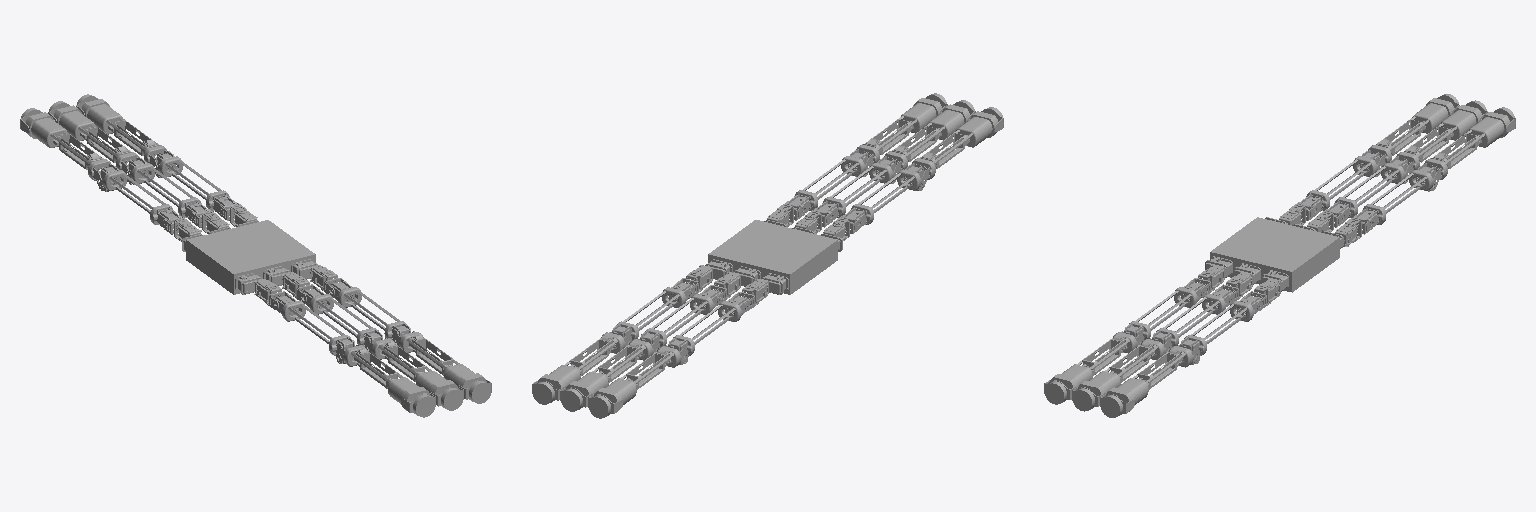
--- What the picture shows (computed from the rendered views, not written in the file) ---
3 views of the same robot in one strip: view 1: azimuth 30°, elevation 25°; view 2: azimuth 150°, elevation 25°; view 3: azimuth 330°, elevation 25° (orthographic).
Model robominer with 74 links and 73 joints (24 revolute, 49 fixed), rooted at base_link, posed all joints at 0.
Visible links, largest first — view 1: cuerpo, Component10_r_3, Component10_r_2, Component10_r_1, Component10_l_3, Component10_l_1, Component10_l_2, Component7_l_3, Component7_l_1, Component7_l_2, Component7_r_3, Component7_r_1 (+8 smaller); view 2: cuerpo, Component10_l_3, Component10_l_1, Component10_l_2, Component10_r_3, Component10_r_1, Component10_r_2, Component7_r_3, Component7_r_1, Component7_r_2, Component7_l_3, Component7_l_2 (+9 smaller); view 3: cuerpo, Component10_r_1, Component10_r_3, Component10_r_2, Component10_l_1, Component10_l_3, Component10_l_2, Component7_l_1, Component7_l_3, Component7_l_2, Component7_r_1, Component7_r_2 (+10 smaller).
Link boxes in pixels (x1=…): cuerpo: x1=186, y1=220, x2=315, y2=294; Component10_r_3: x1=343, y1=345, x2=403, y2=388; Component10_r_2: x1=371, y1=338, x2=431, y2=381; Component10_r_1: x1=399, y1=332, x2=459, y2=375; Component10_l_3: x1=50, y1=131, x2=111, y2=180; Component10_l_1: x1=106, y1=117, x2=166, y2=162; Component10_l_2: x1=78, y1=124, x2=139, y2=169; Component7_l_3: x1=102, y1=170, x2=174, y2=224; Component7_l_1: x1=158, y1=156, x2=229, y2=211; Component7_l_2: x1=130, y1=163, x2=201, y2=217; Component7_r_3: x1=281, y1=300, x2=350, y2=355; Component7_r_1: x1=337, y1=287, x2=406, y2=339; cuerpo: x1=708, y1=220, x2=837, y2=294; Component10_l_3: x1=620, y1=346, x2=681, y2=389; Component10_l_1: x1=565, y1=332, x2=625, y2=375; Component10_l_2: x1=592, y1=339, x2=653, y2=382; Component10_r_3: x1=912, y1=130, x2=972, y2=179; Component10_r_1: x1=856, y1=116, x2=916, y2=162; Component10_r_2: x1=884, y1=123, x2=944, y2=169; Component7_r_3: x1=850, y1=169, x2=921, y2=224; Component7_r_1: x1=794, y1=156, x2=865, y2=210; Component7_r_2: x1=822, y1=163, x2=893, y2=217; Component7_l_3: x1=673, y1=301, x2=742, y2=356; Component7_l_2: x1=645, y1=294, x2=714, y2=346; cuerpo: x1=1210, y1=217, x2=1339, y2=292; Component10_r_1: x1=1133, y1=346, x2=1193, y2=389; Component10_r_3: x1=1076, y1=332, x2=1137, y2=375; Component10_r_2: x1=1105, y1=339, x2=1165, y2=382; Component10_l_1: x1=1424, y1=130, x2=1484, y2=179; Component10_l_3: x1=1368, y1=116, x2=1428, y2=162; Component10_l_2: x1=1396, y1=123, x2=1456, y2=169; Component7_l_1: x1=1362, y1=170, x2=1433, y2=224; Component7_l_3: x1=1306, y1=156, x2=1377, y2=210; Component7_l_2: x1=1334, y1=163, x2=1405, y2=217; Component7_r_1: x1=1184, y1=301, x2=1254, y2=355; Component7_r_2: x1=1156, y1=294, x2=1226, y2=346.
Bounding box of the posed robot: 0.2668 × 2.08 × 0.0701 m (x, y, z).
73 mesh visuals loaded from 13 distinct referenced files (13 binary STL).

The robot description file, URDF, robot "robominer":
<?xml version="1.0" ?>
<!-- =================================================================================== -->
<!-- |    This document was autogenerated by xacro from robominer.xacro                | -->
<!-- |    EDITING THIS FILE BY HAND IS NOT RECOMMENDED                                 | -->
<!-- =================================================================================== -->
<robot name="robominer">
  <material name="silver">
    <color rgba="0.700 0.700 0.700 1.000"/>
  </material>
  <link name="cuerpo">
    <inertial>
      <origin rpy="0 0 0" xyz="1.2607010642475455e-06 -1.9705023201073385e-17 0.030000000000039998"/>
      <!--mass value="28.985638173838137"/-->
      <mass value="2"/>
      <inertia ixx="0.155393" ixy="-0.0" ixz="-0.0" iyy="0.159826" iyz="-0.0" izz="0.297615"/>
    </inertial>
    <visual>
      <origin rpy="0 0 0" xyz="0 0 0"/>
      <geometry>
        <mesh filename="package://robominer_description/meshes/cuerpo.stl" scale="0.001 0.001 0.001"/>
      </geometry>
      <material name="silver"/>
    </visual>
    <collision>
      <origin rpy="0 0 0" xyz="0 0 0"/>
      <geometry>
        <mesh filename="package://robominer_description/meshes/cuerpo.stl" scale="0.001 0.001 0.001"/>
      </geometry>
    </collision>
  </link>
  <gazebo>
    <plugin filename="libgazebo_ros_control.so" name="control">
      <robotNamespace>/robominer</robotNamespace>
    </plugin>
  </gazebo>
  <gazebo reference="cuerpo">
    <material>Gazebo/Silver</material>
    <implicitSpringDamper>true</implicitSpringDamper>
    <mu1>0.8</mu1>
    <mu2>0.8</mu2>
    <kp>1000000.0</kp>
    <kd>1.0</kd>
    <maxVel>0</maxVel>
    <minDepth>0.001</minDepth>
    <selfCollide>true</selfCollide>
    <gravity>true</gravity>
  </gazebo>
  <!--Pata r1-->
  <gazebo reference="Component1_r_1">
    <material>Gazebo/Silver</material>
    <implicitSpringDamper>true</implicitSpringDamper>
    <mu1>0.8</mu1>
    <mu2>0.8</mu2>
    <kp>1000000.0</kp>
    <kd>1.0</kd>
    <maxVel>0</maxVel>
    <minDepth>0.001</minDepth>
    <selfCollide>true</selfCollide>
  </gazebo>
  <gazebo reference="Component2_r_1">
    <material>Gazebo/Silver</material>
    <implicitSpringDamper>true</implicitSpringDamper>
    <mu1>0.8</mu1>
    <mu2>0.8</mu2>
    <kp>1000000.0</kp>
    <kd>1.0</kd>
    <maxVel>0</maxVel>
    <minDepth>0.001</minDepth>
    <selfCollide>true</selfCollide>
  </gazebo>
  <gazebo reference="Component3_r_1">
    <material>Gazebo/Silver</material>
    <implicitSpringDamper>true</implicitSpringDamper>
    <mu1>0.8</mu1>
    <mu2>0.8</mu2>
    <kp>1000000.0</kp>
    <kd>1.0</kd>
    <maxVel>0</maxVel>
    <minDepth>0.001</minDepth>
    <selfCollide>true</selfCollide>
  </gazebo>
  <gazebo reference="Component4_r_1">
    <material>Gazebo/Silver</material>
    <implicitSpringDamper>true</implicitSpringDamper>
    <mu1>0.8</mu1>
    <mu2>0.8</mu2>
    <kp>1000000.0</kp>
    <kd>1.0</kd>
    <maxVel>0</maxVel>
    <minDepth>0.001</minDepth>
    <selfCollide>true</selfCollide>
  </gazebo>
  <gazebo reference="Component5_r_1">
    <material>Gazebo/Silver</material>
    <implicitSpringDamper>true</implicitSpringDamper>
    <mu1>0.8</mu1>
    <mu2>0.8</mu2>
    <kp>1000000.0</kp>
    <kd>1.0</kd>
    <maxVel>0</maxVel>
    <minDepth>0.001</minDepth>
    <selfCollide>true</selfCollide>
  </gazebo>
  <gazebo reference="Component6_r_1">
    <material>Gazebo/Silver</material>
    <implicitSpringDamper>true</implicitSpringDamper>
    <mu1>0.8</mu1>
    <mu2>0.8</mu2>
    <kp>1000000.0</kp>
    <kd>1.0</kd>
    <maxVel>0</maxVel>
    <minDepth>0.001</minDepth>
    <selfCollide>true</selfCollide>
  </gazebo>
  <gazebo reference="Component7_r_1">
    <material>Gazebo/Silver</material>
    <implicitSpringDamper>true</implicitSpringDamper>
    <mu1>0.8</mu1>
    <mu2>0.8</mu2>
    <kp>1000000.0</kp>
    <kd>1.0</kd>
    <maxVel>0</maxVel>
    <minDepth>0.001</minDepth>
    <selfCollide>true</selfCollide>
  </gazebo>
  <gazebo reference="Component8_r_1">
    <material>Gazebo/Silver</material>
    <implicitSpringDamper>true</implicitSpringDamper>
    <mu1>0.8</mu1>
    <mu2>0.8</mu2>
    <kp>1000000.0</kp>
    <kd>1.0</kd>
    <maxVel>0</maxVel>
    <minDepth>0.001</minDepth>
    <selfCollide>true</selfCollide>
  </gazebo>
  <gazebo reference="Component9_r_1">
    <material>Gazebo/Silver</material>
    <implicitSpringDamper>true</implicitSpringDamper>
    <mu1>0.8</mu1>
    <mu2>0.8</mu2>
    <kp>1000000.0</kp>
    <kd>1.0</kd>
    <maxVel>0</maxVel>
    <minDepth>0.001</minDepth>
    <selfCollide>true</selfCollide>
  </gazebo>
  <gazebo reference="Component10_r_1">
    <material>Gazebo/Silver</material>
    <implicitSpringDamper>true</implicitSpringDamper>
    <mu1>0.8</mu1>
    <mu2>0.8</mu2>
    <kp>1000000.0</kp>
    <kd>1.0</kd>
    <maxVel>0</maxVel>
    <minDepth>0.001</minDepth>
    <selfCollide>true</selfCollide>
  </gazebo>
  <gazebo reference="Component11_r_1">
    <material>Gazebo/Silver</material>
    <implicitSpringDamper>true</implicitSpringDamper>
    <mu1>0.8</mu1>
    <mu2>0.8</mu2>
    <kp>1000000.0</kp>
    <kd>1.0</kd>
    <maxVel>0</maxVel>
    <minDepth>0.001</minDepth>
    <selfCollide>true</selfCollide>
  </gazebo>
  <gazebo reference="Component12_r_1">
    <material>Gazebo/Silver</material>
    <implicitSpringDamper>true</implicitSpringDamper>
    <mu1>0.8</mu1>
    <mu2>0.8</mu2>
    <kp>1000000.0</kp>
    <kd>1.0</kd>
    <maxVel>0</maxVel>
    <minDepth>0.001</minDepth>
    <selfCollide>true</selfCollide>
  </gazebo>
  <!--Pata r2-->
  <gazebo reference="Component1_r_2">
    <material>Gazebo/Silver</material>
    <implicitSpringDamper>true</implicitSpringDamper>
    <mu1>0.8</mu1>
    <mu2>0.8</mu2>
    <kp>1000000.0</kp>
    <kd>1.0</kd>
    <maxVel>0</maxVel>
    <minDepth>0.001</minDepth>
    <selfCollide>true</selfCollide>
  </gazebo>
  <gazebo reference="Component2_r_2">
    <material>Gazebo/Silver</material>
    <implicitSpringDamper>true</implicitSpringDamper>
    <mu1>0.8</mu1>
    <mu2>0.8</mu2>
    <kp>1000000.0</kp>
    <kd>1.0</kd>
    <maxVel>0</maxVel>
    <minDepth>0.001</minDepth>
    <selfCollide>true</selfCollide>
  </gazebo>
  <gazebo reference="Component3_r_2">
    <material>Gazebo/Silver</material>
    <implicitSpringDamper>true</implicitSpringDamper>
    <mu1>0.8</mu1>
    <mu2>0.8</mu2>
    <kp>1000000.0</kp>
    <kd>1.0</kd>
    <maxVel>0</maxVel>
    <minDepth>0.001</minDepth>
    <selfCollide>true</selfCollide>
  </gazebo>
  <gazebo reference="Component4_r_2">
    <material>Gazebo/Silver</material>
    <implicitSpringDamper>true</implicitSpringDamper>
    <mu1>0.8</mu1>
    <mu2>0.8</mu2>
    <kp>1000000.0</kp>
    <kd>1.0</kd>
    <maxVel>0</maxVel>
    <minDepth>0.001</minDepth>
    <selfCollide>true</selfCollide>
  </gazebo>
  <gazebo reference="Component5_r_2">
    <material>Gazebo/Silver</material>
    <implicitSpringDamper>true</implicitSpringDamper>
    <mu1>0.8</mu1>
    <mu2>0.8</mu2>
    <kp>1000000.0</kp>
    <kd>1.0</kd>
    <maxVel>0</maxVel>
    <minDepth>0.001</minDepth>
    <selfCollide>true</selfCollide>
  </gazebo>
  <gazebo reference="Component6_r_2">
    <material>Gazebo/Silver</material>
    <implicitSpringDamper>true</implicitSpringDamper>
    <mu1>0.8</mu1>
    <mu2>0.8</mu2>
    <kp>1000000.0</kp>
    <kd>1.0</kd>
    <maxVel>0</maxVel>
    <minDepth>0.001</minDepth>
    <selfCollide>true</selfCollide>
  </gazebo>
  <gazebo reference="Component7_r_2">
    <material>Gazebo/Silver</material>
    <implicitSpringDamper>true</implicitSpringDamper>
    <mu1>0.8</mu1>
    <mu2>0.8</mu2>
    <kp>1000000.0</kp>
    <kd>1.0</kd>
    <maxVel>0</maxVel>
    <minDepth>0.001</minDepth>
    <selfCollide>true</selfCollide>
  </gazebo>
  <gazebo reference="Component8_r_2">
    <material>Gazebo/Silver</material>
    <implicitSpringDamper>true</implicitSpringDamper>
    <mu1>0.8</mu1>
    <mu2>0.8</mu2>
    <kp>1000000.0</kp>
    <kd>1.0</kd>
    <maxVel>0</maxVel>
    <minDepth>0.001</minDepth>
    <selfCollide>true</selfCollide>
  </gazebo>
  <gazebo reference="Component9_r_2">
    <material>Gazebo/Silver</material>
    <implicitSpringDamper>true</implicitSpringDamper>
    <mu1>0.8</mu1>
    <mu2>0.8</mu2>
    <kp>1000000.0</kp>
    <kd>1.0</kd>
    <maxVel>0</maxVel>
    <minDepth>0.001</minDepth>
    <selfCollide>true</selfCollide>
  </gazebo>
  <gazebo reference="Component10_r_2">
    <material>Gazebo/Silver</material>
    <implicitSpringDamper>true</implicitSpringDamper>
    <mu1>0.8</mu1>
    <mu2>0.8</mu2>
    <kp>1000000.0</kp>
    <kd>1.0</kd>
    <maxVel>0</maxVel>
    <minDepth>0.001</minDepth>
    <selfCollide>true</selfCollide>
  </gazebo>
  <gazebo reference="Component11_r_2">
    <material>Gazebo/Silver</material>
    <implicitSpringDamper>true</implicitSpringDamper>
    <mu1>0.8</mu1>
    <mu2>0.8</mu2>
    <kp>1000000.0</kp>
    <kd>1.0</kd>
    <maxVel>0</maxVel>
    <minDepth>0.001</minDepth>
    <selfCollide>true</selfCollide>
  </gazebo>
  <gazebo reference="Component12_r_2">
    <material>Gazebo/Silver</material>
    <implicitSpringDamper>true</implicitSpringDamper>
    <mu1>0.8</mu1>
    <mu2>0.8</mu2>
    <kp>1000000.0</kp>
    <kd>1.0</kd>
    <maxVel>0</maxVel>
    <minDepth>0.001</minDepth>
    <selfCollide>true</selfCollide>
  </gazebo>
  <!--Pata r3-->
  <gazebo reference="Component1_r_3">
    <material>Gazebo/Silver</material>
    <implicitSpringDamper>true</implicitSpringDamper>
    <mu1>0.8</mu1>
    <mu2>0.8</mu2>
    <kp>1000000.0</kp>
    <kd>1.0</kd>
    <maxVel>0</maxVel>
    <minDepth>0.001</minDepth>
    <selfCollide>true</selfCollide>
  </gazebo>
  <gazebo reference="Component2_r_3">
    <material>Gazebo/Silver</material>
    <implicitSpringDamper>true</implicitSpringDamper>
    <mu1>0.8</mu1>
    <mu2>0.8</mu2>
    <kp>1000000.0</kp>
    <kd>1.0</kd>
    <maxVel>0</maxVel>
    <minDepth>0.001</minDepth>
    <selfCollide>true</selfCollide>
  </gazebo>
  <gazebo reference="Component3_r_3">
    <material>Gazebo/Silver</material>
    <implicitSpringDamper>true</implicitSpringDamper>
    <mu1>0.8</mu1>
    <mu2>0.8</mu2>
    <kp>1000000.0</kp>
    <kd>1.0</kd>
    <maxVel>0</maxVel>
    <minDepth>0.001</minDepth>
    <selfCollide>true</selfCollide>
  </gazebo>
  <gazebo reference="Component4_r_3">
    <material>Gazebo/Silver</material>
    <implicitSpringDamper>true</implicitSpringDamper>
    <mu1>0.8</mu1>
    <mu2>0.8</mu2>
    <kp>1000000.0</kp>
    <kd>1.0</kd>
    <maxVel>0</maxVel>
    <minDepth>0.001</minDepth>
    <selfCollide>true</selfCollide>
  </gazebo>
  <gazebo reference="Component5_r_3">
    <material>Gazebo/Silver</material>
    <implicitSpringDamper>true</implicitSpringDamper>
    <mu1>0.8</mu1>
    <mu2>0.8</mu2>
    <kp>1000000.0</kp>
    <kd>1.0</kd>
    <maxVel>0</maxVel>
    <minDepth>0.001</minDepth>
    <selfCollide>true</selfCollide>
  </gazebo>
  <gazebo reference="Component6_r_3">
    <material>Gazebo/Silver</material>
    <implicitSpringDamper>true</implicitSpringDamper>
    <mu1>0.8</mu1>
    <mu2>0.8</mu2>
    <kp>1000000.0</kp>
    <kd>1.0</kd>
    <maxVel>0</maxVel>
    <minDepth>0.001</minDepth>
    <selfCollide>true</selfCollide>
  </gazebo>
  <gazebo reference="Component7_r_3">
    <material>Gazebo/Silver</material>
    <implicitSpringDamper>true</implicitSpringDamper>
    <mu1>0.8</mu1>
    <mu2>0.8</mu2>
    <kp>1000000.0</kp>
    <kd>1.0</kd>
    <maxVel>0</maxVel>
    <minDepth>0.001</minDepth>
    <selfCollide>true</selfCollide>
  </gazebo>
  <gazebo reference="Component8_r_3">
    <material>Gazebo/Silver</material>
    <implicitSpringDamper>true</implicitSpringDamper>
    <mu1>0.8</mu1>
    <mu2>0.8</mu2>
    <kp>1000000.0</kp>
    <kd>1.0</kd>
    <maxVel>0</maxVel>
    <minDepth>0.001</minDepth>
    <selfCollide>true</selfCollide>
  </gazebo>
  <gazebo reference="Component9_r_3">
    <material>Gazebo/Silver</material>
    <implicitSpringDamper>true</implicitSpringDamper>
    <mu1>0.8</mu1>
    <mu2>0.8</mu2>
    <kp>1000000.0</kp>
    <kd>1.0</kd>
    <maxVel>0</maxVel>
    <minDepth>0.001</minDepth>
    <selfCollide>true</selfCollide>
  </gazebo>
  <gazebo reference="Component10_r_3">
    <material>Gazebo/Silver</material>
    <implicitSpringDamper>true</implicitSpringDamper>
    <mu1>0.8</mu1>
    <mu2>0.8</mu2>
    <kp>1000000.0</kp>
    <kd>1.0</kd>
    <maxVel>0</maxVel>
    <minDepth>0.001</minDepth>
    <selfCollide>true</selfCollide>
  </gazebo>
  <gazebo reference="Component11_r_3">
    <material>Gazebo/Silver</material>
    <implicitSpringDamper>true</implicitSpringDamper>
    <mu1>0.8</mu1>
    <mu2>0.8</mu2>
    <kp>1000000.0</kp>
    <kd>1.0</kd>
    <maxVel>0</maxVel>
    <minDepth>0.001</minDepth>
    <selfCollide>true</selfCollide>
  </gazebo>
  <gazebo reference="Component12_r_3">
    <material>Gazebo/Silver</material>
    <implicitSpringDamper>true</implicitSpringDamper>
    <mu1>0.8</mu1>
    <mu2>0.8</mu2>
    <kp>1000000.0</kp>
    <kd>1.0</kd>
    <maxVel>0</maxVel>
    <minDepth>0.001</minDepth>
    <selfCollide>true</selfCollide>
  </gazebo>
  <!--Pata l1-->
  <gazebo reference="Component1_l_1">
    <material>Gazebo/Silver</material>
    <implicitSpringDamper>true</implicitSpringDamper>
    <mu1>0.8</mu1>
    <mu2>0.8</mu2>
    <kp>1000000.0</kp>
    <kd>1.0</kd>
    <maxVel>0</maxVel>
    <minDepth>0.001</minDepth>
    <selfCollide>true</selfCollide>
  </gazebo>
  <gazebo reference="Component2_l_1">
    <material>Gazebo/Silver</material>
    <implicitSpringDamper>true</implicitSpringDamper>
    <mu1>0.8</mu1>
    <mu2>0.8</mu2>
    <kp>1000000.0</kp>
    <kd>1.0</kd>
    <maxVel>0</maxVel>
    <minDepth>0.001</minDepth>
    <selfCollide>true</selfCollide>
  </gazebo>
  <gazebo reference="Component3_l_1">
    <material>Gazebo/Silver</material>
    <implicitSpringDamper>true</implicitSpringDamper>
    <mu1>0.8</mu1>
    <mu2>0.8</mu2>
    <kp>1000000.0</kp>
    <kd>1.0</kd>
    <maxVel>0</maxVel>
    <minDepth>0.001</minDepth>
    <selfCollide>true</selfCollide>
  </gazebo>
  <gazebo reference="Component4_l_1">
    <material>Gazebo/Silver</material>
    <implicitSpringDamper>true</implicitSpringDamper>
    <mu1>0.8</mu1>
    <mu2>0.8</mu2>
    <kp>1000000.0</kp>
    <kd>1.0</kd>
    <maxVel>0</maxVel>
    <minDepth>0.001</minDepth>
    <selfCollide>true</selfCollide>
  </gazebo>
  <gazebo reference="Component5_l_1">
    <material>Gazebo/Silver</material>
    <implicitSpringDamper>true</implicitSpringDamper>
    <mu1>0.8</mu1>
    <mu2>0.8</mu2>
    <kp>1000000.0</kp>
    <kd>1.0</kd>
    <maxVel>0</maxVel>
    <minDepth>0.001</minDepth>
    <selfCollide>true</selfCollide>
  </gazebo>
  <gazebo reference="Component6_l_1">
    <material>Gazebo/Silver</material>
    <implicitSpringDamper>true</implicitSpringDamper>
    <mu1>0.8</mu1>
    <mu2>0.8</mu2>
    <kp>1000000.0</kp>
    <kd>1.0</kd>
    <maxVel>0</maxVel>
    <minDepth>0.001</minDepth>
    <selfCollide>true</selfCollide>
  </gazebo>
  <gazebo reference="Component7_l_1">
    <material>Gazebo/Silver</material>
    <implicitSpringDamper>true</implicitSpringDamper>
    <mu1>0.8</mu1>
    <mu2>0.8</mu2>
    <kp>1000000.0</kp>
    <kd>1.0</kd>
    <maxVel>0</maxVel>
    <minDepth>0.001</minDepth>
    <selfCollide>true</selfCollide>
  </gazebo>
  <gazebo reference="Component8_l_1">
    <material>Gazebo/Silver</material>
    <implicitSpringDamper>true</implicitSpringDamper>
    <mu1>0.8</mu1>
    <mu2>0.8</mu2>
    <kp>1000000.0</kp>
    <kd>1.0</kd>
    <maxVel>0</maxVel>
    <minDepth>0.001</minDepth>
    <selfCollide>true</selfCollide>
  </gazebo>
  <gazebo reference="Component9_l_1">
    <material>Gazebo/Silver</material>
    <implicitSpringDamper>true</implicitSpringDamper>
    <mu1>0.8</mu1>
    <mu2>0.8</mu2>
    <kp>1000000.0</kp>
    <kd>1.0</kd>
    <maxVel>0</maxVel>
    <minDepth>0.001</minDepth>
    <selfCollide>true</selfCollide>
  </gazebo>
  <gazebo reference="Component10_l_1">
    <material>Gazebo/Silver</material>
    <implicitSpringDamper>true</implicitSpringDamper>
    <mu1>0.8</mu1>
    <mu2>0.8</mu2>
    <kp>1000000.0</kp>
    <kd>1.0</kd>
    <maxVel>0</maxVel>
    <minDepth>0.001</minDepth>
    <selfCollide>true</selfCollide>
  </gazebo>
  <gazebo reference="Component11_l_1">
    <material>Gazebo/Silver</material>
    <implicitSpringDamper>true</implicitSpringDamper>
    <mu1>0.8</mu1>
    <mu2>0.8</mu2>
    <kp>1000000.0</kp>
    <kd>1.0</kd>
    <maxVel>0</maxVel>
    <minDepth>0.001</minDepth>
    <selfCollide>true</selfCollide>
  </gazebo>
  <gazebo reference="Component12_l_1">
    <material>Gazebo/Silver</material>
    <implicitSpringDamper>true</implicitSpringDamper>
    <mu1>0.8</mu1>
    <mu2>0.8</mu2>
    <kp>1000000.0</kp>
    <kd>1.0</kd>
    <maxVel>0</maxVel>
    <minDepth>0.001</minDepth>
    <selfCollide>true</selfCollide>
  </gazebo>
  <!--Pata l2-->
  <gazebo reference="Component1_l_2">
    <material>Gazebo/Silver</material>
    <implicitSpringDamper>true</implicitSpringDamper>
    <mu1>0.8</mu1>
    <mu2>0.8</mu2>
    <kp>1000000.0</kp>
    <kd>1.0</kd>
    <maxVel>0</maxVel>
    <minDepth>0.001</minDepth>
    <selfCollide>true</selfCollide>
  </gazebo>
  <gazebo reference="Component2_l_2">
    <material>Gazebo/Silver</material>
    <implicitSpringDamper>true</implicitSpringDamper>
    <mu1>0.8</mu1>
    <mu2>0.8</mu2>
    <kp>1000000.0</kp>
    <kd>1.0</kd>
    <maxVel>0</maxVel>
    <minDepth>0.001</minDepth>
    <selfCollide>true</selfCollide>
  </gazebo>
  <gazebo reference="Component3_l_2">
    <material>Gazebo/Silver</material>
    <implicitSpringDamper>true</implicitSpringDamper>
    <mu1>0.8</mu1>
    <mu2>0.8</mu2>
    <kp>1000000.0</kp>
    <kd>1.0</kd>
    <maxVel>0</maxVel>
    <minDepth>0.001</minDepth>
    <selfCollide>true</selfCollide>
  </gazebo>
  <gazebo reference="Component4_l_2">
    <material>Gazebo/Silver</material>
    <implicitSpringDamper>true</implicitSpringDamper>
    <mu1>0.8</mu1>
    <mu2>0.8</mu2>
    <kp>1000000.0</kp>
    <kd>1.0</kd>
    <maxVel>0</maxVel>
    <minDepth>0.001</minDepth>
    <selfCollide>true</selfCollide>
  </gazebo>
  <gazebo reference="Component5_l_2">
    <material>Gazebo/Silver</material>
    <implicitSpringDamper>true</implicitSpringDamper>
    <mu1>0.8</mu1>
    <mu2>0.8</mu2>
    <kp>1000000.0</kp>
    <kd>1.0</kd>
    <maxVel>0</maxVel>
    <minDepth>0.001</minDepth>
    <selfCollide>true</selfCollide>
  </gazebo>
  <gazebo reference="Component6_l_2">
    <material>Gazebo/Silver</material>
    <implicitSpringDamper>true</implicitSpringDamper>
    <mu1>0.8</mu1>
    <mu2>0.8</mu2>
    <kp>1000000.0</kp>
    <kd>1.0</kd>
    <maxVel>0</maxVel>
    <minDepth>0.001</minDepth>
    <selfCollide>true</selfCollide>
  </gazebo>
  <gazebo reference="Component7_l_2">
    <material>Gazebo/Silver</material>
    <implicitSpringDamper>true</implicitSpringDamper>
    <mu1>0.8</mu1>
    <mu2>0.8</mu2>
    <kp>1000000.0</kp>
    <kd>1.0</kd>
    <maxVel>0</maxVel>
    <minDepth>0.001</minDepth>
    <selfCollide>true</selfCollide>
  </gazebo>
  <gazebo reference="Component8_l_2">
    <material>Gazebo/Silver</material>
    <implicitSpringDamper>true</implicitSpringDamper>
    <mu1>0.8</mu1>
    <mu2>0.8</mu2>
    <kp>1000000.0</kp>
    <kd>1.0</kd>
    <maxVel>0</maxVel>
    <minDepth>0.001</minDepth>
    <selfCollide>true</selfCollide>
  </gazebo>
  <gazebo reference="Component9_l_2">
    <material>Gazebo/Silver</material>
    <implicitSpringDamper>true</implicitSpringDamper>
    <mu1>0.8</mu1>
    <mu2>0.8</mu2>
    <kp>1000000.0</kp>
    <kd>1.0</kd>
    <maxVel>0</maxVel>
    <minDepth>0.001</minDepth>
    <selfCollide>true</selfCollide>
  </gazebo>
  <gazebo reference="Component10_l_2">
    <material>Gazebo/Silver</material>
    <implicitSpringDamper>true</implicitSpringDamper>
    <mu1>0.8</mu1>
    <mu2>0.8</mu2>
    <kp>1000000.0</kp>
    <kd>1.0</kd>
    <maxVel>0</maxVel>
    <minDepth>0.001</minDepth>
    <selfCollide>true</selfCollide>
  </gazebo>
  <gazebo reference="Component11_l_2">
    <material>Gazebo/Silver</material>
    <implicitSpringDamper>true</implicitSpringDamper>
    <mu1>0.8</mu1>
    <mu2>0.8</mu2>
    <kp>1000000.0</kp>
    <kd>1.0</kd>
    <maxVel>0</maxVel>
    <minDepth>0.001</minDepth>
    <selfCollide>true</selfCollide>
  </gazebo>
  <gazebo reference="Component12_l_2">
    <material>Gazebo/Silver</material>
    <implicitSpringDamper>true</implicitSpringDamper>
    <mu1>0.8</mu1>
    <mu2>0.8</mu2>
    <kp>1000000.0</kp>
    <kd>1.0</kd>
    <maxVel>0</maxVel>
    <minDepth>0.001</minDepth>
    <selfCollide>true</selfCollide>
  </gazebo>
  <!--Pata l3-->
  <gazebo reference="Component1_l_3">
    <material>Gazebo/Silver</material>
    <implicitSpringDamper>true</implicitSpringDamper>
    <mu1>0.8</mu1>
    <mu2>0.8</mu2>
    <kp>1000000.0</kp>
    <kd>1.0</kd>
    <maxVel>0</maxVel>
    <minDepth>0.001</minDepth>
    <selfCollide>true</selfCollide>
  </gazebo>
  <gazebo reference="Component2_l_3">
    <material>Gazebo/Silver</material>
    <implicitSpringDamper>true</implicitSpringDamper>
    <mu1>0.8</mu1>
    <mu2>0.8</mu2>
    <kp>1000000.0</kp>
    <kd>1.0</kd>
    <maxVel>0</maxVel>
    <minDepth>0.001</minDepth>
    <selfCollide>true</selfCollide>
  </gazebo>
  <gazebo reference="Component3_l_3">
    <material>Gazebo/Silver</material>
    <implicitSpringDamper>true</implicitSpringDamper>
    <mu1>0.8</mu1>
    <mu2>0.8</mu2>
    <kp>1000000.0</kp>
    <kd>1.0</kd>
    <maxVel>0</maxVel>
    <minDepth>0.001</minDepth>
    <selfCollide>true</selfCollide>
  </gazebo>
  <gazebo reference="Component4_l_3">
    <material>Gazebo/Silver</material>
    <implicitSpringDamper>true</implicitSpringDamper>
    <mu1>0.8</mu1>
    <mu2>0.8</mu2>
    <kp>1000000.0</kp>
    <kd>1.0</kd>
    <maxVel>0</maxVel>
    <minDepth>0.001</minDepth>
    <selfCollide>true</selfCollide>
  </gazebo>
  <gazebo reference="Component5_l_3">
    <material>Gazebo/Silver</material>
    <implicitSpringDamper>true</implicitSpringDamper>
    <mu1>0.8</mu1>
    <mu2>0.8</mu2>
    <kp>1000000.0</kp>
    <kd>1.0</kd>
    <maxVel>0</maxVel>
    <minDepth>0.001</minDepth>
    <selfCollide>true</selfCollide>
  </gazebo>
  <gazebo reference="Component6_l_3">
    <material>Gazebo/Silver</material>
    <implicitSpringDamper>true</implicitSpringDamper>
    <mu1>0.8</mu1>
    <mu2>0.8</mu2>
    <kp>1000000.0</kp>
    <kd>1.0</kd>
    <maxVel>0</maxVel>
    <minDepth>0.001</minDepth>
    <selfCollide>true</selfCollide>
  </gazebo>
  <gazebo reference="Component7_l_3">
    <material>Gazebo/Silver</material>
    <implicitSpringDamper>true</implicitSpringDamper>
    <mu1>0.8</mu1>
    <mu2>0.8</mu2>
    <kp>1000000.0</kp>
    <kd>1.0</kd>
    <maxVel>0</maxVel>
    <minDepth>0.001</minDepth>
    <selfCollide>true</selfCollide>
  </gazebo>
  <gazebo reference="Component8_l_3">
    <material>Gazebo/Silver</material>
    <implicitSpringDamper>true</implicitSpringDamper>
    <mu1>0.8</mu1>
    <mu2>0.8</mu2>
    <kp>1000000.0</kp>
    <kd>1.0</kd>
    <maxVel>0</maxVel>
    <minDepth>0.001</minDepth>
    <selfCollide>true</selfCollide>
  </gazebo>
  <gazebo reference="Component9_l_3">
    <material>Gazebo/Silver</material>
    <implicitSpringDamper>true</implicitSpringDamper>
    <mu1>0.8</mu1>
    <mu2>0.8</mu2>
    <kp>1000000.0</kp>
    <kd>1.0</kd>
    <maxVel>0</maxVel>
    <minDepth>0.001</minDepth>
    <selfCollide>true</selfCollide>
  </gazebo>
  <gazebo reference="Component10_l_3">
    <material>Gazebo/Silver</material>
    <implicitSpringDamper>true</implicitSpringDamper>
    <mu1>0.8</mu1>
    <mu2>0.8</mu2>
    <kp>1000000.0</kp>
    <kd>1.0</kd>
    <maxVel>0</maxVel>
    <minDepth>0.001</minDepth>
    <selfCollide>true</selfCollide>
  </gazebo>
  <gazebo reference="Component11_l_3">
    <material>Gazebo/Silver</material>
    <implicitSpringDamper>true</implicitSpringDamper>
    <mu1>0.8</mu1>
    <mu2>0.8</mu2>
    <kp>1000000.0</kp>
    <kd>1.0</kd>
    <maxVel>0</maxVel>
    <minDepth>0.001</minDepth>
    <selfCollide>true</selfCollide>
  </gazebo>
  <gazebo reference="Component12_l_3">
    <material>Gazebo/Silver</material>
    <implicitSpringDamper>true</implicitSpringDamper>
    <mu1>0.8</mu1>
    <mu2>0.8</mu2>
    <kp>1000000.0</kp>
    <kd>1.0</kd>
    <maxVel>0</maxVel>
    <minDepth>0.001</minDepth>
    <selfCollide>true</selfCollide>
  </gazebo>
  <!--xacro:include filename="$(find robominer_description)/urdf/robominer.trans" /-->
  <!--robominer.trans no se incluye porque su codigo se ha pegado en pata.xacro-->
  <!-- Used for fixing robot to Gazebo 'base_link (frame reference)' -->
  <link name="base_link"/>
  <joint name="fixed" type="fixed">
    <origin rpy="0 0 0" xyz="0 0 0.1"/>
    <parent link="base_link"/>
    <child link="cuerpo"/>
  </joint>
  <!--lr: izda o dcha; num: n de pata-->
  <link name="Component1_r_1">
    <inertial>
      <origin rpy="0 0 0" xyz="-0.016098173620451704 0.010194176532741607 0.0004098876929128892"/>
      <mass value="0.6779958201620729"/>
      <inertia ixx="0.000178" ixy="2e-06" ixz="-0.0" iyy="0.000263" iyz="0.0" izz="0.000323"/>
    </inertial>
    <visual>
      <origin rpy="0 0 0" xyz="0 0 0"/>
      <geometry>
        <mesh filename="package://robominer_description/meshes/Component1_1.stl" scale="0.001 0.001 0.001"/>
      </geometry>
      <material name="silver"/>
    </visual>
    <collision>
      <origin rpy="0 0 0" xyz="0 0 0"/>
      <geometry>
        <mesh filename="package://robominer_description/meshes/Component1_1.stl" scale="0.001 0.001 0.001"/>
      </geometry>
    </collision>
  </link>
  <link name="Component2_r_1">
    <inertial>
      <origin rpy="0 0 0" xyz="-0.0006149315356479564 -0.0036869848715110638 3.2154364889409545e-06"/>
      <mass value="0.04057327410573066"/>
      <inertia ixx="6e-06" ixy="-0.0" ixz="-0.0" iyy="8e-06" iyz="0.0" izz="3e-06"/>
    </inertial>
    <visual>
      <origin rpy="0 0 0" xyz="-3.5e-05 0.013979 -0.00041"/>
      <geometry>
        <mesh filename="package://robominer_description/meshes/Component2_1.stl" scale="0.001 0.001 0.001"/>
      </geometry>
      <material name="silver"/>
    </visual>
    <collision>
      <origin rpy="0 0 0" xyz="-3.5e-05 0.013979 -0.00041"/>
      <geometry>
        <mesh filename="package://robominer_description/meshes/Component2_1.stl" scale="0.001 0.001 0.001"/>
      </geometry>
    </collision>
  </link>
  <link name="Component3_r_1">
    <inertial>
      <origin rpy="0 0 0" xyz="-0.010999671935318412 -0.03017554708149813 -0.017082679282096242"/>
      <mass value="0.5890018112407169"/>
      <inertia ixx="0.000248" ixy="-0.0" ixz="0.0" iyy="0.000143" iyz="3e-06" izz="0.000207"/>
    </inertial>
    <visual>
      <origin rpy="0 0 0" xyz="-0.011035 0.023979 -0.017399"/>
      <geometry>
        <mesh filename="package://robominer_description/meshes/Component3_1.stl" scale="0.001 0.001 0.001"/>
      </geometry>
      <material name="silver"/>
    </visual>
    <collision>
      <origin rpy="0 0 0" xyz="-0.011035 0.023979 -0.017399"/>
      <geometry>
        <mesh filename="package://robominer_description/meshes/Component3_1.stl" scale="0.001 0.001 0.001"/>
      </geometry>
    </collision>
  </link>
  <link name="Component4_r_1">
    <inertial>
      <origin rpy="0 0 0" xyz="3.8836028582182376e-07 -0.02564659243541706 -0.023500384459309957"/>
      <mass value="0.05208378573426527"/>
      <inertia ixx="2.7e-05" ixy="-0.0" ixz="-0.0" iyy="2.6e-05" iyz="-0.0" izz="1.3e-05"/>
    </inertial>
    <visual>
      <origin rpy="0 0 0" xyz="-3.5e-05 0.069279 -0.023899"/>
      <geometry>
        <mesh filename="package://robominer_description/meshes/Component4_1.stl" scale="0.001 0.001 0.001"/>
      </geometry>
      <material name="silver"/>
    </visual>
    <collision>
      <origin rpy="0 0 0" xyz="-3.5e-05 0.069279 -0.023899"/>
      <geometry>
        <mesh filename="package://robominer_description/meshes/Component4_1.stl" scale="0.001 0.001 0.001"/>
      </geometry>
    </collision>
  </link>
  <link name="Component5_r_1">
    <inertial>
      <origin rpy="0 0 0" xyz="3.909747923353329e-07 -0.010354176598752526 -3.8552361335936723e-07"/>
      <mass value="0.05208378573425636"/>
      <inertia ixx="1.3e-05" ixy="-0.0" ixz="0.0" iyy="2.6e-05" iyz="0.0" izz="2.7e-05"/>
    </inertial>
    <visual>
      <origin rpy="0 0 0" xyz="-3.5e-05 0.105279 -0.000399"/>
      <geometry>
        <mesh filename="package://robominer_description/meshes/Component5_1.stl" scale="0.001 0.001 0.001"/>
      </geometry>
      <material name="silver"/>
    </visual>
    <collision>
      <origin rpy="0 0 0" xyz="-3.5e-05 0.105279 -0.000399"/>
      <geometry>
        <mesh filename="package://robominer_description/meshes/Component5_1.stl" scale="0.001 0.001 0.001"/>
      </geometry>
    </collision>
  </link>
  <link name="Component6_r_1">
    <inertial>
      <origin rpy="0 0 0" xyz="-0.023581906416495643 -0.015125163189184582 -3.840657600155174e-07"/>
      <mass value="0.5890018112407189"/>
      <inertia ixx="0.000207" ixy="-3e-06" ixz="-0.0" iyy="0.000143" iyz="-0.0" izz="0.000248"/>
    </inertial>
    <visual>
      <origin rpy="0 0 0" xyz="-0.023535 0.141279 -0.000399"/>
      <geometry>
        <mesh filename="package://robominer_description/meshes/Component6_1.stl" scale="0.001 0.001 0.001"/>
      </geometry>
      <material name="silver"/>
    </visual>
    <collision>
      <origin rpy="0 0 0" xyz="-0.023535 0.141279 -0.000399"/>
      <geometry>
        <mesh filename="package://robominer_description/meshes/Component6_1.stl" scale="0.001 0.001 0.001"/>
      </geometry>
    </collision>
  </link>
  <link name="Component7_r_1">
    <inertial>
      <origin rpy="0 0 0" xyz="0.016989115270362485 -0.13370034092163718 -0.009679411634955093"/>
      <mass value="0.8047904243141957"/>
      <inertia ixx="0.010228" ixy="0.0" ixz="-0.0" iyy="0.000455" iyz="0.0" izz="0.010342"/>
    </inertial>
    <visual>
      <origin rpy="0 0 0" xyz="0.016965 0.186579 -0.011399"/>
      <geometry>
        <mesh filename="package://robominer_description/meshes/Component7_1.stl" scale="0.001 0.001 0.001"/>
      </geometry>
      <material name="silver"/>
    </visual>
    <collision>
      <origin rpy="0 0 0" xyz="0.016965 0.186579 -0.011399"/>
      <geometry>
        <mesh filename="package://robominer_description/meshes/Component7_1.stl" scale="0.001 0.001 0.001"/>
      </geometry>
    </collision>
  </link>
  <link name="Component8_r_1">
    <inertial>
      <origin rpy="0 0 0" xyz="-0.01704022511743504 -0.01730038580509191 -0.024875483679934324"/>
      <mass value="0.5890018112407238"/>
      <inertia ixx="0.000207" ixy="-0.0" ixz="3e-06" iyy="0.000248" iyz="-0.0" izz="0.000143"/>
    </inertial>
    <visual>
      <origin rpy="0 0 0" xyz="-0.017013 0.453979 -0.018399"/>
      <geometry>
        <mesh filename="package://robominer_description/meshes/Component8_1.stl" scale="0.001 0.001 0.001"/>
      </geometry>
      <material name="silver"/>
    </visual>
    <collision>
      <origin rpy="0 0 0" xyz="-0.017013 0.453979 -0.018399"/>
      <geometry>
        <mesh filename="package://robominer_description/meshes/Component8_1.stl" scale="0.001 0.001 0.001"/>
      </geometry>
    </collision>
  </link>
  <link name="Component9_r_1">
    <inertial>
      <origin rpy="0 0 0" xyz="0.023499847445577277 -0.030303124512979562 0.018803242373294574"/>
      <mass value="0.07064606392588994"/>
      <inertia ixx="2.9e-05" ixy="0.0" ixz="0.0" iyy="4.1e-05" iyz="5e-06" izz="5.1e-05"/>
    </inertial>
    <visual>
      <origin rpy="0 0 0" xyz="0.021987 0.471279 0.021601"/>
      <geometry>
        <mesh filename="package://robominer_description/meshes/Component9_1.stl" scale="0.001 0.001 0.001"/>
      </geometry>
      <material name="silver"/>
    </visual>
    <collision>
      <origin rpy="0 0 0" xyz="0.021987 0.471279 0.021601"/>
      <geometry>
        <mesh filename="package://robominer_description/meshes/Component9_1.stl" scale="0.001 0.001 0.001"/>
      </geometry>
    </collision>
  </link>
  <link name="Component10_r_1">
    <inertial>
      <origin rpy="0 0 0" xyz="-0.0001462881510200071 -0.07565896477109058 0.0034500995512585075"/>
      <mass value="1.0490517458913435"/>
      <inertia ixx="0.006442" ixy="-1.9e-05" ixz="-0.0" iyy="0.00043" iyz="-7.4e-05" izz="0.006454"/>
    </inertial>
    <visual>
      <origin rpy="0 0 0" xyz="-0.001513 0.519279 -0.000399"/>
      <geometry>
        <mesh filename="package://robominer_description/meshes/Component10_1.stl" scale="0.001 0.001 0.001"/>
      </geometry>
      <material name="silver"/>
    </visual>
    <collision>
      <origin rpy="0 0 0" xyz="-0.001513 0.519279 -0.000399"/>
      <geometry>
        <mesh filename="package://robominer_description/meshes/Component10_1.stl" scale="0.001 0.001 0.001"/>
      </geometry>
    </collision>
  </link>
  <link name="Component11_r_1">
    <inertial>
      <origin rpy="0 0 0" xyz="-0.0198056930527322 -0.04596785880612919 -0.016515232602085917"/>
      <mass value="2.634371860361076"/>
      <inertia ixx="0.003233" ixy="-0.0" ixz="0.0" iyy="0.001378" iyz="1.3e-05" izz="0.003593"/>
    </inertial>
    <visual>
      <origin rpy="0 0 0" xyz="-0.021246 0.754979 -0.016997"/>
      <geometry>
        <mesh filename="package://robominer_description/meshes/Component11_1.stl" scale="0.001 0.001 0.001"/>
      </geometry>
      <material name="silver"/>
    </visual>
    <collision>
      <origin rpy="0 0 0" xyz="-0.021246 0.754979 -0.016997"/>
      <geometry>
        <mesh filename="package://robominer_description/meshes/Component11_1.stl" scale="0.001 0.001 0.001"/>
      </geometry>
    </collision>
  </link>
  <link name="Component12_r_1">
    <inertial>
      <origin rpy="0 0 0" xyz="-0.03612166848566285 -0.03816330247780275 -3.670740474915864e-07"/>
      <mass value="0.4300735435640777"/>
      <inertia ixx="0.000136" ixy="0.0" ixz="0.0" iyy="0.000245" iyz="0.0" izz="0.000199"/>
    </inertial>
    <visual>
      <origin rpy="0 0 0" xyz="-0.037428 0.84017 -0.000763"/>
      <geometry>
        <mesh filename="package://robominer_description/meshes/Component12_1.stl" scale="0.001 0.001 0.001"/>
      </geometry>
      <material name="silver"/>
    </visual>
    <collision>
      <origin rpy="0 0 0" xyz="-0.037428 0.84017 -0.000763"/>
      <geometry>
        <mesh filename="package://robominer_description/meshes/Component12_1.stl" scale="0.001 0.001 0.001"/>
      </geometry>
    </collision>
  </link>
  <!--Primera joint: cuerpo-pata-->
  <!--Por algun motivo el plugin nos daba mal la coordenada y de los origenes de esta joint y habido que estimarla a mano-->
  <joint name="Rigid0_r_1" type="fixed">
    <parent link="cuerpo"/>
    <child link="Component1_r_1"/>
    <!--origin rpy="0 0 0" xyz="0.100325 -0.11755 0.03"/-->
    <origin rpy="0 0 0" xyz="0.100325 -0.151 0.03"/>
  </joint>
  <joint name="Rigid1_r_1" type="fixed">
    <origin rpy="0 0 0" xyz="3.5e-05 -0.013979 0.00041"/>
    <parent link="Component1_r_1"/>
    <child link="Component2_r_1"/>
  </joint>
  <joint name="Rigid2_r_1" type="fixed">
    <origin rpy="0 0 0" xyz="0.011 -0.01 0.016989"/>
    <parent link="Component2_r_1"/>
    <child link="Component3_r_1"/>
  </joint>
  <joint name="Rev3_r_1" type="revolute">
    <origin rpy="0 0 0" xyz="-0.011 -0.0453 0.0065"/>
    <parent link="Component3_r_1"/>
    <child link="Component4_r_1"/>
    <axis xyz="-0.0 -0.0 1.0"/>
    <dynamics damping=".1" friction="1.0"/>
    <limit effort="100" lower="-1.919862" upper="1.919862" velocity="100"/>
  </joint>
  <joint name="Rigid4_r_1" type="fixed">
    <origin rpy="0 0 0" xyz="0.0 -0.036 -0.0235"/>
    <parent link="Component4_r_1"/>
    <child link="Component5_r_1"/>
  </joint>
  <joint name="Rev5_r_1" type="revolute">
    <origin rpy="0 0 0" xyz="0.0235 -0.036 0.0"/>
    <parent link="Component5_r_1"/>
    <child link="Component6_r_1"/>
    <axis xyz="1.0 0.0 -0.0"/>
    <dynamics damping=".1" friction="1.0"/>
    <limit effort="100" lower="-1.919862" upper="1.919862" velocity="100"/>
  </joint>
  <joint name="Rigid6_r_1" type="fixed">
    <origin rpy="0 0 0" xyz="-0.0405 -0.0453 0.011"/>
    <parent link="Component6_r_1"/>
    <child link="Component7_r_1"/>
  </joint>
  <joint name="Rigid7_r_1" type="fixed">
    <origin rpy="0 0 0" xyz="0.033978 -0.2674 0.007"/>
    <parent link="Component7_r_1"/>
    <child link="Component8_r_1"/>
  </joint>
  <joint name="Rev8_r_1" type="revolute">
    <origin rpy="0 0 0" xyz="-0.039 -0.0173 -0.04"/>
    <parent link="Component8_r_1"/>
    <child link="Component9_r_1"/>
    <axis xyz="1.0 0.0 0.0"/>
    <dynamics damping=".1" friction="1.0"/>
    <limit effort="100" lower="-0.785398" upper="3.141593" velocity="100"/>
  </joint>
  <joint name="Rigid9_r_1" type="fixed">
    <origin rpy="0 0 0" xyz="0.0235 -0.048 0.022"/>
    <parent link="Component9_r_1"/>
    <child link="Component10_r_1"/>
  </joint>
  <joint name="Rigid10_r_1" type="fixed">
    <origin rpy="0 0 0" xyz="0.019733 -0.2357 0.016598"/>
    <parent link="Component10_r_1"/>
    <child link="Component11_r_1"/>
  </joint>
  <joint name="Rev11_r_1" type="revolute">
    <origin rpy="0 0 0" xyz="0.016182 -0.085191 -0.016234"/>
    <parent link="Component11_r_1"/>
    <child link="Component12_r_1"/>
    <axis xyz="1.0 -0.0 0.0"/>
    <dynamics damping=".1" friction="1.0"/>
    <limit effort="100" lower="-1.570796" upper="1.570796" velocity="100"/>
  </joint>
  <!--Transmisiones-->
  <transmission name="Rev3_tran_r_1">
    <type>transmission_interface/SimpleTransmission</type>
    <joint name="Rev3_r_1">
      <hardwareInterface>hardware_interface/EffortJointInterface</hardwareInterface>
    </joint>
    <actuator name="Rev3_actr_r_1">
      <hardwareInterface>hardware_interface/EffortJointInterface</hardwareInterface>
      <mechanicalReduction>1</mechanicalReduction>
    </actuator>
  </transmission>
  <transmission name="Rev5_tran_r_1">
    <type>transmission_interface/SimpleTransmission</type>
    <joint name="Rev5_r_1">
      <hardwareInterface>hardware_interface/EffortJointInterface</hardwareInterface>
    </joint>
    <actuator name="Rev5_actr_r_1">
      <hardwareInterface>hardware_interface/EffortJointInterface</hardwareInterface>
      <mechanicalReduction>1</mechanicalReduction>
    </actuator>
  </transmission>
  <transmission name="Rev8_tran_r_1">
    <type>transmission_interface/SimpleTransmission</type>
    <joint name="Rev8_r_1">
      <hardwareInterface>hardware_interface/EffortJointInterface</hardwareInterface>
    </joint>
    <actuator name="Rev8_actr_r_1">
      <hardwareInterface>hardware_interface/EffortJointInterface</hardwareInterface>
      <mechanicalReduction>1</mechanicalReduction>
    </actuator>
  </transmission>
  <transmission name="Rev11_tran_r_1">
    <type>transmission_interface/SimpleTransmission</type>
    <joint name="Rev11_r_1">
      <hardwareInterface>hardware_interface/EffortJointInterface</hardwareInterface>
    </joint>
    <actuator name="Rev11_actr_r_1">
      <hardwareInterface>hardware_interface/EffortJointInterface</hardwareInterface>
      <mechanicalReduction>1</mechanicalReduction>
    </actuator>
  </transmission>
  <!--Sensores-->
  <!-- Enable the Joint Feedback -->
  <gazebo reference="Rev3_r_1">
    <provideFeedback>true</provideFeedback>
  </gazebo>
  <!-- The ft_sensor plugin -->
  <gazebo>
    <plugin filename="libgazebo_ros_ft_sensor.so" name="ft_sensor">
      <robotNamespace>/robominer</robotNamespace>
      <updateRate>100.0</updateRate>
      <topicName>Rev3_r_1_ft_sensor_topic</topicName>
      <jointName>Rev3_r_1</jointName>
    </plugin>
  </gazebo>
  <!-- Enable the Joint Feedback -->
  <gazebo reference="Rev5_r_1">
    <provideFeedback>true</provideFeedback>
  </gazebo>
  <!-- The ft_sensor plugin -->
  <gazebo>
    <plugin filename="libgazebo_ros_ft_sensor.so" name="ft_sensor">
      <robotNamespace>/robominer</robotNamespace>
      <updateRate>100.0</updateRate>
      <topicName>Rev5_r_1_ft_sensor_topic</topicName>
      <jointName>Rev5_r_1</jointName>
    </plugin>
  </gazebo>
  <!-- Enable the Joint Feedback -->
  <gazebo reference="Rev8_r_1">
    <provideFeedback>true</provideFeedback>
  </gazebo>
  <!-- The ft_sensor plugin -->
  <gazebo>
    <plugin filename="libgazebo_ros_ft_sensor.so" name="ft_sensor">
      <robotNamespace>/robominer</robotNamespace>
      <updateRate>100.0</updateRate>
      <topicName>Rev8_r_1_ft_sensor_topic</topicName>
      <jointName>Rev8_r_1</jointName>
    </plugin>
  </gazebo>
  <!-- Enable the Joint Feedback -->
  <gazebo reference="Rev11_r_1">
    <provideFeedback>true</provideFeedback>
  </gazebo>
  <!-- The ft_sensor plugin -->
  <gazebo>
    <plugin filename="libgazebo_ros_ft_sensor.so" name="ft_sensor">
      <robotNamespace>/robominer</robotNamespace>
      <updateRate>100.0</updateRate>
      <topicName>Rev11_r_1_ft_sensor_topic</topicName>
      <jointName>Rev11_r_1</jointName>
    </plugin>
  </gazebo>
  <!--lr: izda o dcha; num: n de pata-->
  <link name="Component1_r_2">
    <inertial>
      <origin rpy="0 0 0" xyz="-0.016098173620451704 0.010194176532741607 0.0004098876929128892"/>
      <mass value="0.6779958201620729"/>
      <inertia ixx="0.000178" ixy="2e-06" ixz="-0.0" iyy="0.000263" iyz="0.0" izz="0.000323"/>
    </inertial>
    <visual>
      <origin rpy="0 0 0" xyz="0 0 0"/>
      <geometry>
        <mesh filename="package://robominer_description/meshes/Component1_1.stl" scale="0.001 0.001 0.001"/>
      </geometry>
      <material name="silver"/>
    </visual>
    <collision>
      <origin rpy="0 0 0" xyz="0 0 0"/>
      <geometry>
        <mesh filename="package://robominer_description/meshes/Component1_1.stl" scale="0.001 0.001 0.001"/>
      </geometry>
    </collision>
  </link>
  <link name="Component2_r_2">
    <inertial>
      <origin rpy="0 0 0" xyz="-0.0006149315356479564 -0.0036869848715110638 3.2154364889409545e-06"/>
      <mass value="0.04057327410573066"/>
      <inertia ixx="6e-06" ixy="-0.0" ixz="-0.0" iyy="8e-06" iyz="0.0" izz="3e-06"/>
    </inertial>
    <visual>
      <origin rpy="0 0 0" xyz="-3.5e-05 0.013979 -0.00041"/>
      <geometry>
        <mesh filename="package://robominer_description/meshes/Component2_1.stl" scale="0.001 0.001 0.001"/>
      </geometry>
      <material name="silver"/>
    </visual>
    <collision>
      <origin rpy="0 0 0" xyz="-3.5e-05 0.013979 -0.00041"/>
      <geometry>
        <mesh filename="package://robominer_description/meshes/Component2_1.stl" scale="0.001 0.001 0.001"/>
      </geometry>
    </collision>
  </link>
  <link name="Component3_r_2">
    <inertial>
      <origin rpy="0 0 0" xyz="-0.010999671935318412 -0.03017554708149813 -0.017082679282096242"/>
      <mass value="0.5890018112407169"/>
      <inertia ixx="0.000248" ixy="-0.0" ixz="0.0" iyy="0.000143" iyz="3e-06" izz="0.000207"/>
    </inertial>
    <visual>
      <origin rpy="0 0 0" xyz="-0.011035 0.023979 -0.017399"/>
      <geometry>
        <mesh filename="package://robominer_description/meshes/Component3_1.stl" scale="0.001 0.001 0.001"/>
      </geometry>
      <material name="silver"/>
    </visual>
    <collision>
      <origin rpy="0 0 0" xyz="-0.011035 0.023979 -0.017399"/>
      <geometry>
        <mesh filename="package://robominer_description/meshes/Component3_1.stl" scale="0.001 0.001 0.001"/>
      </geometry>
    </collision>
  </link>
  <link name="Component4_r_2">
    <inertial>
      <origin rpy="0 0 0" xyz="3.8836028582182376e-07 -0.02564659243541706 -0.023500384459309957"/>
      <mass value="0.05208378573426527"/>
      <inertia ixx="2.7e-05" ixy="-0.0" ixz="-0.0" iyy="2.6e-05" iyz="-0.0" izz="1.3e-05"/>
    </inertial>
    <visual>
      <origin rpy="0 0 0" xyz="-3.5e-05 0.069279 -0.023899"/>
      <geometry>
        <mesh filename="package://robominer_description/meshes/Component4_1.stl" scale="0.001 0.001 0.001"/>
      </geometry>
      <material name="silver"/>
    </visual>
    <collision>
      <origin rpy="0 0 0" xyz="-3.5e-05 0.069279 -0.023899"/>
      <geometry>
        <mesh filename="package://robominer_description/meshes/Component4_1.stl" scale="0.001 0.001 0.001"/>
      </geometry>
    </collision>
  </link>
  <link name="Component5_r_2">
    <inertial>
      <origin rpy="0 0 0" xyz="3.909747923353329e-07 -0.010354176598752526 -3.8552361335936723e-07"/>
      <mass value="0.05208378573425636"/>
      <inertia ixx="1.3e-05" ixy="-0.0" ixz="0.0" iyy="2.6e-05" iyz="0.0" izz="2.7e-05"/>
    </inertial>
    <visual>
      <origin rpy="0 0 0" xyz="-3.5e-05 0.105279 -0.000399"/>
      <geometry>
        <mesh filename="package://robominer_description/meshes/Component5_1.stl" scale="0.001 0.001 0.001"/>
      </geometry>
      <material name="silver"/>
    </visual>
    <collision>
      <origin rpy="0 0 0" xyz="-3.5e-05 0.105279 -0.000399"/>
      <geometry>
        <mesh filename="package://robominer_description/meshes/Component5_1.stl" scale="0.001 0.001 0.001"/>
      </geometry>
    </collision>
  </link>
  <link name="Component6_r_2">
    <inertial>
      <origin rpy="0 0 0" xyz="-0.023581906416495643 -0.015125163189184582 -3.840657600155174e-07"/>
      <mass value="0.5890018112407189"/>
      <inertia ixx="0.000207" ixy="-3e-06" ixz="-0.0" iyy="0.000143" iyz="-0.0" izz="0.000248"/>
    </inertial>
    <visual>
      <origin rpy="0 0 0" xyz="-0.023535 0.141279 -0.000399"/>
      <geometry>
        <mesh filename="package://robominer_description/meshes/Component6_1.stl" scale="0.001 0.001 0.001"/>
      </geometry>
      <material name="silver"/>
    </visual>
    <collision>
      <origin rpy="0 0 0" xyz="-0.023535 0.141279 -0.000399"/>
      <geometry>
        <mesh filename="package://robominer_description/meshes/Component6_1.stl" scale="0.001 0.001 0.001"/>
      </geometry>
    </collision>
  </link>
  <link name="Component7_r_2">
    <inertial>
      <origin rpy="0 0 0" xyz="0.016989115270362485 -0.13370034092163718 -0.009679411634955093"/>
      <mass value="0.8047904243141957"/>
      <inertia ixx="0.010228" ixy="0.0" ixz="-0.0" iyy="0.000455" iyz="0.0" izz="0.010342"/>
    </inertial>
    <visual>
      <origin rpy="0 0 0" xyz="0.016965 0.186579 -0.011399"/>
      <geometry>
        <mesh filename="package://robominer_description/meshes/Component7_1.stl" scale="0.001 0.001 0.001"/>
      </geometry>
      <material name="silver"/>
    </visual>
    <collision>
      <origin rpy="0 0 0" xyz="0.016965 0.186579 -0.011399"/>
      <geometry>
        <mesh filename="package://robominer_description/meshes/Component7_1.stl" scale="0.001 0.001 0.001"/>
      </geometry>
    </collision>
  </link>
  <link name="Component8_r_2">
    <inertial>
      <origin rpy="0 0 0" xyz="-0.01704022511743504 -0.01730038580509191 -0.024875483679934324"/>
      <mass value="0.5890018112407238"/>
      <inertia ixx="0.000207" ixy="-0.0" ixz="3e-06" iyy="0.000248" iyz="-0.0" izz="0.000143"/>
    </inertial>
    <visual>
      <origin rpy="0 0 0" xyz="-0.017013 0.453979 -0.018399"/>
      <geometry>
        <mesh filename="package://robominer_description/meshes/Component8_1.stl" scale="0.001 0.001 0.001"/>
      </geometry>
      <material name="silver"/>
    </visual>
    <collision>
      <origin rpy="0 0 0" xyz="-0.017013 0.453979 -0.018399"/>
      <geometry>
        <mesh filename="package://robominer_description/meshes/Component8_1.stl" scale="0.001 0.001 0.001"/>
      </geometry>
    </collision>
  </link>
  <link name="Component9_r_2">
    <inertial>
      <origin rpy="0 0 0" xyz="0.023499847445577277 -0.030303124512979562 0.018803242373294574"/>
      <mass value="0.07064606392588994"/>
      <inertia ixx="2.9e-05" ixy="0.0" ixz="0.0" iyy="4.1e-05" iyz="5e-06" izz="5.1e-05"/>
    </inertial>
    <visual>
      <origin rpy="0 0 0" xyz="0.021987 0.471279 0.021601"/>
      <geometry>
        <mesh filename="package://robominer_description/meshes/Component9_1.stl" scale="0.001 0.001 0.001"/>
      </geometry>
      <material name="silver"/>
    </visual>
    <collision>
      <origin rpy="0 0 0" xyz="0.021987 0.471279 0.021601"/>
      <geometry>
        <mesh filename="package://robominer_description/meshes/Component9_1.stl" scale="0.001 0.001 0.001"/>
      </geometry>
    </collision>
  </link>
  <link name="Component10_r_2">
    <inertial>
      <origin rpy="0 0 0" xyz="-0.0001462881510200071 -0.07565896477109058 0.0034500995512585075"/>
      <mass value="1.0490517458913435"/>
      <inertia ixx="0.006442" ixy="-1.9e-05" ixz="-0.0" iyy="0.00043" iyz="-7.4e-05" izz="0.006454"/>
    </inertial>
    <visual>
      <origin rpy="0 0 0" xyz="-0.001513 0.519279 -0.000399"/>
      <geometry>
        <mesh filename="package://robominer_description/meshes/Component10_1.stl" scale="0.001 0.001 0.001"/>
      </geometry>
      <material name="silver"/>
    </visual>
    <collision>
      <origin rpy="0 0 0" xyz="-0.001513 0.519279 -0.000399"/>
      <geometry>
        <mesh filename="package://robominer_description/meshes/Component10_1.stl" scale="0.001 0.001 0.001"/>
      </geometry>
    </collision>
  </link>
  <link name="Component11_r_2">
    <inertial>
      <origin rpy="0 0 0" xyz="-0.0198056930527322 -0.04596785880612919 -0.016515232602085917"/>
      <mass value="2.634371860361076"/>
      <inertia ixx="0.003233" ixy="-0.0" ixz="0.0" iyy="0.001378" iyz="1.3e-05" izz="0.003593"/>
    </inertial>
    <visual>
      <origin rpy="0 0 0" xyz="-0.021246 0.754979 -0.016997"/>
      <geometry>
        <mesh filename="package://robominer_description/meshes/Component11_1.stl" scale="0.001 0.001 0.001"/>
      </geometry>
      <material name="silver"/>
    </visual>
    <collision>
      <origin rpy="0 0 0" xyz="-0.021246 0.754979 -0.016997"/>
      <geometry>
        <mesh filename="package://robominer_description/meshes/Component11_1.stl" scale="0.001 0.001 0.001"/>
      </geometry>
    </collision>
  </link>
  <link name="Component12_r_2">
    <inertial>
      <origin rpy="0 0 0" xyz="-0.03612166848566285 -0.03816330247780275 -3.670740474915864e-07"/>
      <mass value="0.4300735435640777"/>
      <inertia ixx="0.000136" ixy="0.0" ixz="0.0" iyy="0.000245" iyz="0.0" izz="0.000199"/>
    </inertial>
    <visual>
      <origin rpy="0 0 0" xyz="-0.037428 0.84017 -0.000763"/>
      <geometry>
        <mesh filename="package://robominer_description/meshes/Component12_1.stl" scale="0.001 0.001 0.001"/>
      </geometry>
      <material name="silver"/>
    </visual>
    <collision>
      <origin rpy="0 0 0" xyz="-0.037428 0.84017 -0.000763"/>
      <geometry>
        <mesh filename="package://robominer_description/meshes/Component12_1.stl" scale="0.001 0.001 0.001"/>
      </geometry>
    </collision>
  </link>
  <!--Primera joint: cuerpo-pata-->
  <!--Por algun motivo el plugin nos daba mal la coordenada y de los origenes de esta joint y habido que estimarla a mano-->
  <joint name="Rigid0_r_2" type="fixed">
    <parent link="cuerpo"/>
    <child link="Component1_r_2"/>
    <!--origin rpy="0 0 0" xyz="0.015325 -0.11755 0.03"/-->
    <origin rpy="0 0 0" xyz="0.015325 -0.151 0.03"/>
  </joint>
  <joint name="Rigid1_r_2" type="fixed">
    <origin rpy="0 0 0" xyz="3.5e-05 -0.013979 0.00041"/>
    <parent link="Component1_r_2"/>
    <child link="Component2_r_2"/>
  </joint>
  <joint name="Rigid2_r_2" type="fixed">
    <origin rpy="0 0 0" xyz="0.011 -0.01 0.016989"/>
    <parent link="Component2_r_2"/>
    <child link="Component3_r_2"/>
  </joint>
  <joint name="Rev3_r_2" type="revolute">
    <origin rpy="0 0 0" xyz="-0.011 -0.0453 0.0065"/>
    <parent link="Component3_r_2"/>
    <child link="Component4_r_2"/>
    <axis xyz="-0.0 -0.0 1.0"/>
    <dynamics damping=".1" friction="1.0"/>
    <limit effort="100" lower="-1.919862" upper="1.919862" velocity="100"/>
  </joint>
  <joint name="Rigid4_r_2" type="fixed">
    <origin rpy="0 0 0" xyz="0.0 -0.036 -0.0235"/>
    <parent link="Component4_r_2"/>
    <child link="Component5_r_2"/>
  </joint>
  <joint name="Rev5_r_2" type="revolute">
    <origin rpy="0 0 0" xyz="0.0235 -0.036 0.0"/>
    <parent link="Component5_r_2"/>
    <child link="Component6_r_2"/>
    <axis xyz="1.0 0.0 -0.0"/>
    <dynamics damping=".1" friction="1.0"/>
    <limit effort="100" lower="-1.919862" upper="1.919862" velocity="100"/>
  </joint>
  <joint name="Rigid6_r_2" type="fixed">
    <origin rpy="0 0 0" xyz="-0.0405 -0.0453 0.011"/>
    <parent link="Component6_r_2"/>
    <child link="Component7_r_2"/>
  </joint>
  <joint name="Rigid7_r_2" type="fixed">
    <origin rpy="0 0 0" xyz="0.033978 -0.2674 0.007"/>
    <parent link="Component7_r_2"/>
    <child link="Component8_r_2"/>
  </joint>
  <joint name="Rev8_r_2" type="revolute">
    <origin rpy="0 0 0" xyz="-0.039 -0.0173 -0.04"/>
    <parent link="Component8_r_2"/>
    <child link="Component9_r_2"/>
    <axis xyz="1.0 0.0 0.0"/>
    <dynamics damping=".1" friction="1.0"/>
    <limit effort="100" lower="-0.785398" upper="3.141593" velocity="100"/>
  </joint>
  <joint name="Rigid9_r_2" type="fixed">
    <origin rpy="0 0 0" xyz="0.0235 -0.048 0.022"/>
    <parent link="Component9_r_2"/>
    <child link="Component10_r_2"/>
  </joint>
  <joint name="Rigid10_r_2" type="fixed">
    <origin rpy="0 0 0" xyz="0.019733 -0.2357 0.016598"/>
    <parent link="Component10_r_2"/>
    <child link="Component11_r_2"/>
  </joint>
  <joint name="Rev11_r_2" type="revolute">
    <origin rpy="0 0 0" xyz="0.016182 -0.085191 -0.016234"/>
    <parent link="Component11_r_2"/>
    <child link="Component12_r_2"/>
    <axis xyz="1.0 -0.0 0.0"/>
    <dynamics damping=".1" friction="1.0"/>
    <limit effort="100" lower="-1.570796" upper="1.570796" velocity="100"/>
  </joint>
  <!--Transmisiones-->
  <transmission name="Rev3_tran_r_2">
    <type>transmission_interface/SimpleTransmission</type>
    <joint name="Rev3_r_2">
      <hardwareInterface>hardware_interface/EffortJointInterface</hardwareInterface>
    </joint>
    <actuator name="Rev3_actr_r_2">
      <hardwareInterface>hardware_interface/EffortJointInterface</hardwareInterface>
      <mechanicalReduction>1</mechanicalReduction>
    </actuator>
  </transmission>
  <transmission name="Rev5_tran_r_2">
    <type>transmission_interface/SimpleTransmission</type>
    <joint name="Rev5_r_2">
      <hardwareInterface>hardware_interface/EffortJointInterface</hardwareInterface>
    </joint>
    <actuator name="Rev5_actr_r_2">
      <hardwareInterface>hardware_interface/EffortJointInterface</hardwareInterface>
      <mechanicalReduction>1</mechanicalReduction>
    </actuator>
  </transmission>
  <transmission name="Rev8_tran_r_2">
    <type>transmission_interface/SimpleTransmission</type>
    <joint name="Rev8_r_2">
      <hardwareInterface>hardware_interface/EffortJointInterface</hardwareInterface>
    </joint>
    <actuator name="Rev8_actr_r_2">
      <hardwareInterface>hardware_interface/EffortJointInterface</hardwareInterface>
      <mechanicalReduction>1</mechanicalReduction>
    </actuator>
  </transmission>
  <transmission name="Rev11_tran_r_2">
    <type>transmission_interface/SimpleTransmission</type>
    <joint name="Rev11_r_2">
      <hardwareInterface>hardware_interface/EffortJointInterface</hardwareInterface>
    </joint>
    <actuator name="Rev11_actr_r_2">
      <hardwareInterface>hardware_interface/EffortJointInterface</hardwareInterface>
      <mechanicalReduction>1</mechanicalReduction>
    </actuator>
  </transmission>
  <!--Sensores-->
  <!-- Enable the Joint Feedback -->
  <gazebo reference="Rev3_r_2">
    <provideFeedback>true</provideFeedback>
  </gazebo>
  <!-- The ft_sensor plugin -->
  <gazebo>
    <plugin filename="libgazebo_ros_ft_sensor.so" name="ft_sensor">
      <robotNamespace>/robominer</robotNamespace>
      <updateRate>100.0</updateRate>
      <topicName>Rev3_r_2_ft_sensor_topic</topicName>
      <jointName>Rev3_r_2</jointName>
    </plugin>
  </gazebo>
  <!-- Enable the Joint Feedback -->
  <gazebo reference="Rev5_r_2">
    <provideFeedback>true</provideFeedback>
  </gazebo>
  <!-- The ft_sensor plugin -->
  <gazebo>
    <plugin filename="libgazebo_ros_ft_sensor.so" name="ft_sensor">
      <robotNamespace>/robominer</robotNamespace>
      <updateRate>100.0</updateRate>
      <topicName>Rev5_r_2_ft_sensor_topic</topicName>
      <jointName>Rev5_r_2</jointName>
    </plugin>
  </gazebo>
  <!-- Enable the Joint Feedback -->
  <gazebo reference="Rev8_r_2">
    <provideFeedback>true</provideFeedback>
  </gazebo>
  <!-- The ft_sensor plugin -->
  <gazebo>
    <plugin filename="libgazebo_ros_ft_sensor.so" name="ft_sensor">
      <robotNamespace>/robominer</robotNamespace>
      <updateRate>100.0</updateRate>
      <topicName>Rev8_r_2_ft_sensor_topic</topicName>
      <jointName>Rev8_r_2</jointName>
    </plugin>
  </gazebo>
  <!-- Enable the Joint Feedback -->
  <gazebo reference="Rev11_r_2">
    <provideFeedback>true</provideFeedback>
  </gazebo>
  <!-- The ft_sensor plugin -->
  <gazebo>
    <plugin filename="libgazebo_ros_ft_sensor.so" name="ft_sensor">
      <robotNamespace>/robominer</robotNamespace>
      <updateRate>100.0</updateRate>
      <topicName>Rev11_r_2_ft_sensor_topic</topicName>
      <jointName>Rev11_r_2</jointName>
    </plugin>
  </gazebo>
  <!--lr: izda o dcha; num: n de pata-->
  <link name="Component1_r_3">
    <inertial>
      <origin rpy="0 0 0" xyz="-0.016098173620451704 0.010194176532741607 0.0004098876929128892"/>
      <mass value="0.6779958201620729"/>
      <inertia ixx="0.000178" ixy="2e-06" ixz="-0.0" iyy="0.000263" iyz="0.0" izz="0.000323"/>
    </inertial>
    <visual>
      <origin rpy="0 0 0" xyz="0 0 0"/>
      <geometry>
        <mesh filename="package://robominer_description/meshes/Component1_1.stl" scale="0.001 0.001 0.001"/>
      </geometry>
      <material name="silver"/>
    </visual>
    <collision>
      <origin rpy="0 0 0" xyz="0 0 0"/>
      <geometry>
        <mesh filename="package://robominer_description/meshes/Component1_1.stl" scale="0.001 0.001 0.001"/>
      </geometry>
    </collision>
  </link>
  <link name="Component2_r_3">
    <inertial>
      <origin rpy="0 0 0" xyz="-0.0006149315356479564 -0.0036869848715110638 3.2154364889409545e-06"/>
      <mass value="0.04057327410573066"/>
      <inertia ixx="6e-06" ixy="-0.0" ixz="-0.0" iyy="8e-06" iyz="0.0" izz="3e-06"/>
    </inertial>
    <visual>
      <origin rpy="0 0 0" xyz="-3.5e-05 0.013979 -0.00041"/>
      <geometry>
        <mesh filename="package://robominer_description/meshes/Component2_1.stl" scale="0.001 0.001 0.001"/>
      </geometry>
      <material name="silver"/>
    </visual>
    <collision>
      <origin rpy="0 0 0" xyz="-3.5e-05 0.013979 -0.00041"/>
      <geometry>
        <mesh filename="package://robominer_description/meshes/Component2_1.stl" scale="0.001 0.001 0.001"/>
      </geometry>
    </collision>
  </link>
  <link name="Component3_r_3">
    <inertial>
      <origin rpy="0 0 0" xyz="-0.010999671935318412 -0.03017554708149813 -0.017082679282096242"/>
      <mass value="0.5890018112407169"/>
      <inertia ixx="0.000248" ixy="-0.0" ixz="0.0" iyy="0.000143" iyz="3e-06" izz="0.000207"/>
    </inertial>
    <visual>
      <origin rpy="0 0 0" xyz="-0.011035 0.023979 -0.017399"/>
      <geometry>
        <mesh filename="package://robominer_description/meshes/Component3_1.stl" scale="0.001 0.001 0.001"/>
      </geometry>
      <material name="silver"/>
    </visual>
    <collision>
      <origin rpy="0 0 0" xyz="-0.011035 0.023979 -0.017399"/>
      <geometry>
        <mesh filename="package://robominer_description/meshes/Component3_1.stl" scale="0.001 0.001 0.001"/>
      </geometry>
    </collision>
  </link>
  <link name="Component4_r_3">
    <inertial>
      <origin rpy="0 0 0" xyz="3.8836028582182376e-07 -0.02564659243541706 -0.023500384459309957"/>
      <mass value="0.05208378573426527"/>
      <inertia ixx="2.7e-05" ixy="-0.0" ixz="-0.0" iyy="2.6e-05" iyz="-0.0" izz="1.3e-05"/>
    </inertial>
    <visual>
      <origin rpy="0 0 0" xyz="-3.5e-05 0.069279 -0.023899"/>
      <geometry>
        <mesh filename="package://robominer_description/meshes/Component4_1.stl" scale="0.001 0.001 0.001"/>
      </geometry>
      <material name="silver"/>
    </visual>
    <collision>
      <origin rpy="0 0 0" xyz="-3.5e-05 0.069279 -0.023899"/>
      <geometry>
        <mesh filename="package://robominer_description/meshes/Component4_1.stl" scale="0.001 0.001 0.001"/>
      </geometry>
    </collision>
  </link>
  <link name="Component5_r_3">
    <inertial>
      <origin rpy="0 0 0" xyz="3.909747923353329e-07 -0.010354176598752526 -3.8552361335936723e-07"/>
      <mass value="0.05208378573425636"/>
      <inertia ixx="1.3e-05" ixy="-0.0" ixz="0.0" iyy="2.6e-05" iyz="0.0" izz="2.7e-05"/>
    </inertial>
    <visual>
      <origin rpy="0 0 0" xyz="-3.5e-05 0.105279 -0.000399"/>
      <geometry>
        <mesh filename="package://robominer_description/meshes/Component5_1.stl" scale="0.001 0.001 0.001"/>
      </geometry>
      <material name="silver"/>
    </visual>
    <collision>
      <origin rpy="0 0 0" xyz="-3.5e-05 0.105279 -0.000399"/>
      <geometry>
        <mesh filename="package://robominer_description/meshes/Component5_1.stl" scale="0.001 0.001 0.001"/>
      </geometry>
    </collision>
  </link>
  <link name="Component6_r_3">
    <inertial>
      <origin rpy="0 0 0" xyz="-0.023581906416495643 -0.015125163189184582 -3.840657600155174e-07"/>
      <mass value="0.5890018112407189"/>
      <inertia ixx="0.000207" ixy="-3e-06" ixz="-0.0" iyy="0.000143" iyz="-0.0" izz="0.000248"/>
    </inertial>
    <visual>
      <origin rpy="0 0 0" xyz="-0.023535 0.141279 -0.000399"/>
      <geometry>
        <mesh filename="package://robominer_description/meshes/Component6_1.stl" scale="0.001 0.001 0.001"/>
      </geometry>
      <material name="silver"/>
    </visual>
    <collision>
      <origin rpy="0 0 0" xyz="-0.023535 0.141279 -0.000399"/>
      <geometry>
        <mesh filename="package://robominer_description/meshes/Component6_1.stl" scale="0.001 0.001 0.001"/>
      </geometry>
    </collision>
  </link>
  <link name="Component7_r_3">
    <inertial>
      <origin rpy="0 0 0" xyz="0.016989115270362485 -0.13370034092163718 -0.009679411634955093"/>
      <mass value="0.8047904243141957"/>
      <inertia ixx="0.010228" ixy="0.0" ixz="-0.0" iyy="0.000455" iyz="0.0" izz="0.010342"/>
    </inertial>
    <visual>
      <origin rpy="0 0 0" xyz="0.016965 0.186579 -0.011399"/>
      <geometry>
        <mesh filename="package://robominer_description/meshes/Component7_1.stl" scale="0.001 0.001 0.001"/>
      </geometry>
      <material name="silver"/>
    </visual>
    <collision>
      <origin rpy="0 0 0" xyz="0.016965 0.186579 -0.011399"/>
      <geometry>
        <mesh filename="package://robominer_description/meshes/Component7_1.stl" scale="0.001 0.001 0.001"/>
      </geometry>
    </collision>
  </link>
  <link name="Component8_r_3">
    <inertial>
      <origin rpy="0 0 0" xyz="-0.01704022511743504 -0.01730038580509191 -0.024875483679934324"/>
      <mass value="0.5890018112407238"/>
      <inertia ixx="0.000207" ixy="-0.0" ixz="3e-06" iyy="0.000248" iyz="-0.0" izz="0.000143"/>
    </inertial>
    <visual>
      <origin rpy="0 0 0" xyz="-0.017013 0.453979 -0.018399"/>
      <geometry>
        <mesh filename="package://robominer_description/meshes/Component8_1.stl" scale="0.001 0.001 0.001"/>
      </geometry>
      <material name="silver"/>
    </visual>
    <collision>
      <origin rpy="0 0 0" xyz="-0.017013 0.453979 -0.018399"/>
      <geometry>
        <mesh filename="package://robominer_description/meshes/Component8_1.stl" scale="0.001 0.001 0.001"/>
      </geometry>
    </collision>
  </link>
  <link name="Component9_r_3">
    <inertial>
      <origin rpy="0 0 0" xyz="0.023499847445577277 -0.030303124512979562 0.018803242373294574"/>
      <mass value="0.07064606392588994"/>
      <inertia ixx="2.9e-05" ixy="0.0" ixz="0.0" iyy="4.1e-05" iyz="5e-06" izz="5.1e-05"/>
    </inertial>
    <visual>
      <origin rpy="0 0 0" xyz="0.021987 0.471279 0.021601"/>
      <geometry>
        <mesh filename="package://robominer_description/meshes/Component9_1.stl" scale="0.001 0.001 0.001"/>
      </geometry>
      <material name="silver"/>
    </visual>
    <collision>
      <origin rpy="0 0 0" xyz="0.021987 0.471279 0.021601"/>
      <geometry>
        <mesh filename="package://robominer_description/meshes/Component9_1.stl" scale="0.001 0.001 0.001"/>
      </geometry>
    </collision>
  </link>
  <link name="Component10_r_3">
    <inertial>
      <origin rpy="0 0 0" xyz="-0.0001462881510200071 -0.07565896477109058 0.0034500995512585075"/>
      <mass value="1.0490517458913435"/>
      <inertia ixx="0.006442" ixy="-1.9e-05" ixz="-0.0" iyy="0.00043" iyz="-7.4e-05" izz="0.006454"/>
    </inertial>
    <visual>
      <origin rpy="0 0 0" xyz="-0.001513 0.519279 -0.000399"/>
      <geometry>
        <mesh filename="package://robominer_description/meshes/Component10_1.stl" scale="0.001 0.001 0.001"/>
      </geometry>
      <material name="silver"/>
    </visual>
    <collision>
      <origin rpy="0 0 0" xyz="-0.001513 0.519279 -0.000399"/>
      <geometry>
        <mesh filename="package://robominer_description/meshes/Component10_1.stl" scale="0.001 0.001 0.001"/>
      </geometry>
    </collision>
  </link>
  <link name="Component11_r_3">
    <inertial>
      <origin rpy="0 0 0" xyz="-0.0198056930527322 -0.04596785880612919 -0.016515232602085917"/>
      <mass value="2.634371860361076"/>
      <inertia ixx="0.003233" ixy="-0.0" ixz="0.0" iyy="0.001378" iyz="1.3e-05" izz="0.003593"/>
    </inertial>
    <visual>
      <origin rpy="0 0 0" xyz="-0.021246 0.754979 -0.016997"/>
      <geometry>
        <mesh filename="package://robominer_description/meshes/Component11_1.stl" scale="0.001 0.001 0.001"/>
      </geometry>
      <material name="silver"/>
    </visual>
    <collision>
      <origin rpy="0 0 0" xyz="-0.021246 0.754979 -0.016997"/>
      <geometry>
        <mesh filename="package://robominer_description/meshes/Component11_1.stl" scale="0.001 0.001 0.001"/>
      </geometry>
    </collision>
  </link>
  <link name="Component12_r_3">
    <inertial>
      <origin rpy="0 0 0" xyz="-0.03612166848566285 -0.03816330247780275 -3.670740474915864e-07"/>
      <mass value="0.4300735435640777"/>
      <inertia ixx="0.000136" ixy="0.0" ixz="0.0" iyy="0.000245" iyz="0.0" izz="0.000199"/>
    </inertial>
    <visual>
      <origin rpy="0 0 0" xyz="-0.037428 0.84017 -0.000763"/>
      <geometry>
        <mesh filename="package://robominer_description/meshes/Component12_1.stl" scale="0.001 0.001 0.001"/>
      </geometry>
      <material name="silver"/>
    </visual>
    <collision>
      <origin rpy="0 0 0" xyz="-0.037428 0.84017 -0.000763"/>
      <geometry>
        <mesh filename="package://robominer_description/meshes/Component12_1.stl" scale="0.001 0.001 0.001"/>
      </geometry>
    </collision>
  </link>
  <!--Primera joint: cuerpo-pata-->
  <!--Por algun motivo el plugin nos daba mal la coordenada y de los origenes de esta joint y habido que estimarla a mano-->
  <joint name="Rigid0_r_3" type="fixed">
    <parent link="cuerpo"/>
    <child link="Component1_r_3"/>
    <!--origin rpy="0 0 0" xyz="-0.069675 -0.11755 0.03"/-->
    <origin rpy="0 0 0" xyz="-0.069675 -0.151 0.03"/>
  </joint>
  <joint name="Rigid1_r_3" type="fixed">
    <origin rpy="0 0 0" xyz="3.5e-05 -0.013979 0.00041"/>
    <parent link="Component1_r_3"/>
    <child link="Component2_r_3"/>
  </joint>
  <joint name="Rigid2_r_3" type="fixed">
    <origin rpy="0 0 0" xyz="0.011 -0.01 0.016989"/>
    <parent link="Component2_r_3"/>
    <child link="Component3_r_3"/>
  </joint>
  <joint name="Rev3_r_3" type="revolute">
    <origin rpy="0 0 0" xyz="-0.011 -0.0453 0.0065"/>
    <parent link="Component3_r_3"/>
    <child link="Component4_r_3"/>
    <axis xyz="-0.0 -0.0 1.0"/>
    <dynamics damping=".1" friction="1.0"/>
    <limit effort="100" lower="-1.919862" upper="1.919862" velocity="100"/>
  </joint>
  <joint name="Rigid4_r_3" type="fixed">
    <origin rpy="0 0 0" xyz="0.0 -0.036 -0.0235"/>
    <parent link="Component4_r_3"/>
    <child link="Component5_r_3"/>
  </joint>
  <joint name="Rev5_r_3" type="revolute">
    <origin rpy="0 0 0" xyz="0.0235 -0.036 0.0"/>
    <parent link="Component5_r_3"/>
    <child link="Component6_r_3"/>
    <axis xyz="1.0 0.0 -0.0"/>
    <dynamics damping=".1" friction="1.0"/>
    <limit effort="100" lower="-1.919862" upper="1.919862" velocity="100"/>
  </joint>
  <joint name="Rigid6_r_3" type="fixed">
    <origin rpy="0 0 0" xyz="-0.0405 -0.0453 0.011"/>
    <parent link="Component6_r_3"/>
    <child link="Component7_r_3"/>
  </joint>
  <joint name="Rigid7_r_3" type="fixed">
    <origin rpy="0 0 0" xyz="0.033978 -0.2674 0.007"/>
    <parent link="Component7_r_3"/>
    <child link="Component8_r_3"/>
  </joint>
  <joint name="Rev8_r_3" type="revolute">
    <origin rpy="0 0 0" xyz="-0.039 -0.0173 -0.04"/>
    <parent link="Component8_r_3"/>
    <child link="Component9_r_3"/>
    <axis xyz="1.0 0.0 0.0"/>
    <dynamics damping=".1" friction="1.0"/>
    <limit effort="100" lower="-0.785398" upper="3.141593" velocity="100"/>
  </joint>
  <joint name="Rigid9_r_3" type="fixed">
    <origin rpy="0 0 0" xyz="0.0235 -0.048 0.022"/>
    <parent link="Component9_r_3"/>
    <child link="Component10_r_3"/>
  </joint>
  <joint name="Rigid10_r_3" type="fixed">
    <origin rpy="0 0 0" xyz="0.019733 -0.2357 0.016598"/>
    <parent link="Component10_r_3"/>
    <child link="Component11_r_3"/>
  </joint>
  <joint name="Rev11_r_3" type="revolute">
    <origin rpy="0 0 0" xyz="0.016182 -0.085191 -0.016234"/>
    <parent link="Component11_r_3"/>
    <child link="Component12_r_3"/>
    <axis xyz="1.0 -0.0 0.0"/>
    <dynamics damping=".1" friction="1.0"/>
    <limit effort="100" lower="-1.570796" upper="1.570796" velocity="100"/>
  </joint>
  <!--Transmisiones-->
  <transmission name="Rev3_tran_r_3">
    <type>transmission_interface/SimpleTransmission</type>
    <joint name="Rev3_r_3">
      <hardwareInterface>hardware_interface/EffortJointInterface</hardwareInterface>
    </joint>
    <actuator name="Rev3_actr_r_3">
      <hardwareInterface>hardware_interface/EffortJointInterface</hardwareInterface>
      <mechanicalReduction>1</mechanicalReduction>
    </actuator>
  </transmission>
  <transmission name="Rev5_tran_r_3">
    <type>transmission_interface/SimpleTransmission</type>
    <joint name="Rev5_r_3">
      <hardwareInterface>hardware_interface/EffortJointInterface</hardwareInterface>
    </joint>
    <actuator name="Rev5_actr_r_3">
      <hardwareInterface>hardware_interface/EffortJointInterface</hardwareInterface>
      <mechanicalReduction>1</mechanicalReduction>
    </actuator>
  </transmission>
  <transmission name="Rev8_tran_r_3">
    <type>transmission_interface/SimpleTransmission</type>
    <joint name="Rev8_r_3">
      <hardwareInterface>hardware_interface/EffortJointInterface</hardwareInterface>
    </joint>
    <actuator name="Rev8_actr_r_3">
      <hardwareInterface>hardware_interface/EffortJointInterface</hardwareInterface>
      <mechanicalReduction>1</mechanicalReduction>
    </actuator>
  </transmission>
  <transmission name="Rev11_tran_r_3">
    <type>transmission_interface/SimpleTransmission</type>
    <joint name="Rev11_r_3">
      <hardwareInterface>hardware_interface/EffortJointInterface</hardwareInterface>
    </joint>
    <actuator name="Rev11_actr_r_3">
      <hardwareInterface>hardware_interface/EffortJointInterface</hardwareInterface>
      <mechanicalReduction>1</mechanicalReduction>
    </actuator>
  </transmission>
  <!--Sensores-->
  <!-- Enable the Joint Feedback -->
  <gazebo reference="Rev3_r_3">
    <provideFeedback>true</provideFeedback>
  </gazebo>
  <!-- The ft_sensor plugin -->
  <gazebo>
    <plugin filename="libgazebo_ros_ft_sensor.so" name="ft_sensor">
      <robotNamespace>/robominer</robotNamespace>
      <updateRate>100.0</updateRate>
      <topicName>Rev3_r_3_ft_sensor_topic</topicName>
      <jointName>Rev3_r_3</jointName>
    </plugin>
  </gazebo>
  <!-- Enable the Joint Feedback -->
  <gazebo reference="Rev5_r_3">
    <provideFeedback>true</provideFeedback>
  </gazebo>
  <!-- The ft_sensor plugin -->
  <gazebo>
    <plugin filename="libgazebo_ros_ft_sensor.so" name="ft_sensor">
      <robotNamespace>/robominer</robotNamespace>
      <updateRate>100.0</updateRate>
      <topicName>Rev5_r_3_ft_sensor_topic</topicName>
      <jointName>Rev5_r_3</jointName>
    </plugin>
  </gazebo>
  <!-- Enable the Joint Feedback -->
  <gazebo reference="Rev8_r_3">
    <provideFeedback>true</provideFeedback>
  </gazebo>
  <!-- The ft_sensor plugin -->
  <gazebo>
    <plugin filename="libgazebo_ros_ft_sensor.so" name="ft_sensor">
      <robotNamespace>/robominer</robotNamespace>
      <updateRate>100.0</updateRate>
      <topicName>Rev8_r_3_ft_sensor_topic</topicName>
      <jointName>Rev8_r_3</jointName>
    </plugin>
  </gazebo>
  <!-- Enable the Joint Feedback -->
  <gazebo reference="Rev11_r_3">
    <provideFeedback>true</provideFeedback>
  </gazebo>
  <!-- The ft_sensor plugin -->
  <gazebo>
    <plugin filename="libgazebo_ros_ft_sensor.so" name="ft_sensor">
      <robotNamespace>/robominer</robotNamespace>
      <updateRate>100.0</updateRate>
      <topicName>Rev11_r_3_ft_sensor_topic</topicName>
      <jointName>Rev11_r_3</jointName>
    </plugin>
  </gazebo>
  <!--lr: izda o dcha; num: n de pata-->
  <link name="Component1_l_1">
    <inertial>
      <origin rpy="0 0 0" xyz="-0.016098173620451704 0.010194176532741607 0.0004098876929128892"/>
      <mass value="0.6779958201620729"/>
      <inertia ixx="0.000178" ixy="2e-06" ixz="-0.0" iyy="0.000263" iyz="0.0" izz="0.000323"/>
    </inertial>
    <visual>
      <origin rpy="0 0 0" xyz="0 0 0"/>
      <geometry>
        <mesh filename="package://robominer_description/meshes/Component1_1.stl" scale="0.001 0.001 0.001"/>
      </geometry>
      <material name="silver"/>
    </visual>
    <collision>
      <origin rpy="0 0 0" xyz="0 0 0"/>
      <geometry>
        <mesh filename="package://robominer_description/meshes/Component1_1.stl" scale="0.001 0.001 0.001"/>
      </geometry>
    </collision>
  </link>
  <link name="Component2_l_1">
    <inertial>
      <origin rpy="0 0 0" xyz="-0.0006149315356479564 -0.0036869848715110638 3.2154364889409545e-06"/>
      <mass value="0.04057327410573066"/>
      <inertia ixx="6e-06" ixy="-0.0" ixz="-0.0" iyy="8e-06" iyz="0.0" izz="3e-06"/>
    </inertial>
    <visual>
      <origin rpy="0 0 0" xyz="-3.5e-05 0.013979 -0.00041"/>
      <geometry>
        <mesh filename="package://robominer_description/meshes/Component2_1.stl" scale="0.001 0.001 0.001"/>
      </geometry>
      <material name="silver"/>
    </visual>
    <collision>
      <origin rpy="0 0 0" xyz="-3.5e-05 0.013979 -0.00041"/>
      <geometry>
        <mesh filename="package://robominer_description/meshes/Component2_1.stl" scale="0.001 0.001 0.001"/>
      </geometry>
    </collision>
  </link>
  <link name="Component3_l_1">
    <inertial>
      <origin rpy="0 0 0" xyz="-0.010999671935318412 -0.03017554708149813 -0.017082679282096242"/>
      <mass value="0.5890018112407169"/>
      <inertia ixx="0.000248" ixy="-0.0" ixz="0.0" iyy="0.000143" iyz="3e-06" izz="0.000207"/>
    </inertial>
    <visual>
      <origin rpy="0 0 0" xyz="-0.011035 0.023979 -0.017399"/>
      <geometry>
        <mesh filename="package://robominer_description/meshes/Component3_1.stl" scale="0.001 0.001 0.001"/>
      </geometry>
      <material name="silver"/>
    </visual>
    <collision>
      <origin rpy="0 0 0" xyz="-0.011035 0.023979 -0.017399"/>
      <geometry>
        <mesh filename="package://robominer_description/meshes/Component3_1.stl" scale="0.001 0.001 0.001"/>
      </geometry>
    </collision>
  </link>
  <link name="Component4_l_1">
    <inertial>
      <origin rpy="0 0 0" xyz="3.8836028582182376e-07 -0.02564659243541706 -0.023500384459309957"/>
      <mass value="0.05208378573426527"/>
      <inertia ixx="2.7e-05" ixy="-0.0" ixz="-0.0" iyy="2.6e-05" iyz="-0.0" izz="1.3e-05"/>
    </inertial>
    <visual>
      <origin rpy="0 0 0" xyz="-3.5e-05 0.069279 -0.023899"/>
      <geometry>
        <mesh filename="package://robominer_description/meshes/Component4_1.stl" scale="0.001 0.001 0.001"/>
      </geometry>
      <material name="silver"/>
    </visual>
    <collision>
      <origin rpy="0 0 0" xyz="-3.5e-05 0.069279 -0.023899"/>
      <geometry>
        <mesh filename="package://robominer_description/meshes/Component4_1.stl" scale="0.001 0.001 0.001"/>
      </geometry>
    </collision>
  </link>
  <link name="Component5_l_1">
    <inertial>
      <origin rpy="0 0 0" xyz="3.909747923353329e-07 -0.010354176598752526 -3.8552361335936723e-07"/>
      <mass value="0.05208378573425636"/>
      <inertia ixx="1.3e-05" ixy="-0.0" ixz="0.0" iyy="2.6e-05" iyz="0.0" izz="2.7e-05"/>
    </inertial>
    <visual>
      <origin rpy="0 0 0" xyz="-3.5e-05 0.105279 -0.000399"/>
      <geometry>
        <mesh filename="package://robominer_description/meshes/Component5_1.stl" scale="0.001 0.001 0.001"/>
      </geometry>
      <material name="silver"/>
    </visual>
    <collision>
      <origin rpy="0 0 0" xyz="-3.5e-05 0.105279 -0.000399"/>
      <geometry>
        <mesh filename="package://robominer_description/meshes/Component5_1.stl" scale="0.001 0.001 0.001"/>
      </geometry>
    </collision>
  </link>
  <link name="Component6_l_1">
    <inertial>
      <origin rpy="0 0 0" xyz="-0.023581906416495643 -0.015125163189184582 -3.840657600155174e-07"/>
      <mass value="0.5890018112407189"/>
      <inertia ixx="0.000207" ixy="-3e-06" ixz="-0.0" iyy="0.000143" iyz="-0.0" izz="0.000248"/>
    </inertial>
    <visual>
      <origin rpy="0 0 0" xyz="-0.023535 0.141279 -0.000399"/>
      <geometry>
        <mesh filename="package://robominer_description/meshes/Component6_1.stl" scale="0.001 0.001 0.001"/>
      </geometry>
      <material name="silver"/>
    </visual>
    <collision>
      <origin rpy="0 0 0" xyz="-0.023535 0.141279 -0.000399"/>
      <geometry>
        <mesh filename="package://robominer_description/meshes/Component6_1.stl" scale="0.001 0.001 0.001"/>
      </geometry>
    </collision>
  </link>
  <link name="Component7_l_1">
    <inertial>
      <origin rpy="0 0 0" xyz="0.016989115270362485 -0.13370034092163718 -0.009679411634955093"/>
      <mass value="0.8047904243141957"/>
      <inertia ixx="0.010228" ixy="0.0" ixz="-0.0" iyy="0.000455" iyz="0.0" izz="0.010342"/>
    </inertial>
    <visual>
      <origin rpy="0 0 0" xyz="0.016965 0.186579 -0.011399"/>
      <geometry>
        <mesh filename="package://robominer_description/meshes/Component7_1.stl" scale="0.001 0.001 0.001"/>
      </geometry>
      <material name="silver"/>
    </visual>
    <collision>
      <origin rpy="0 0 0" xyz="0.016965 0.186579 -0.011399"/>
      <geometry>
        <mesh filename="package://robominer_description/meshes/Component7_1.stl" scale="0.001 0.001 0.001"/>
      </geometry>
    </collision>
  </link>
  <link name="Component8_l_1">
    <inertial>
      <origin rpy="0 0 0" xyz="-0.01704022511743504 -0.01730038580509191 -0.024875483679934324"/>
      <mass value="0.5890018112407238"/>
      <inertia ixx="0.000207" ixy="-0.0" ixz="3e-06" iyy="0.000248" iyz="-0.0" izz="0.000143"/>
    </inertial>
    <visual>
      <origin rpy="0 0 0" xyz="-0.017013 0.453979 -0.018399"/>
      <geometry>
        <mesh filename="package://robominer_description/meshes/Component8_1.stl" scale="0.001 0.001 0.001"/>
      </geometry>
      <material name="silver"/>
    </visual>
    <collision>
      <origin rpy="0 0 0" xyz="-0.017013 0.453979 -0.018399"/>
      <geometry>
        <mesh filename="package://robominer_description/meshes/Component8_1.stl" scale="0.001 0.001 0.001"/>
      </geometry>
    </collision>
  </link>
  <link name="Component9_l_1">
    <inertial>
      <origin rpy="0 0 0" xyz="0.023499847445577277 -0.030303124512979562 0.018803242373294574"/>
      <mass value="0.07064606392588994"/>
      <inertia ixx="2.9e-05" ixy="0.0" ixz="0.0" iyy="4.1e-05" iyz="5e-06" izz="5.1e-05"/>
    </inertial>
    <visual>
      <origin rpy="0 0 0" xyz="0.021987 0.471279 0.021601"/>
      <geometry>
        <mesh filename="package://robominer_description/meshes/Component9_1.stl" scale="0.001 0.001 0.001"/>
      </geometry>
      <material name="silver"/>
    </visual>
    <collision>
      <origin rpy="0 0 0" xyz="0.021987 0.471279 0.021601"/>
      <geometry>
        <mesh filename="package://robominer_description/meshes/Component9_1.stl" scale="0.001 0.001 0.001"/>
      </geometry>
    </collision>
  </link>
  <link name="Component10_l_1">
    <inertial>
      <origin rpy="0 0 0" xyz="-0.0001462881510200071 -0.07565896477109058 0.0034500995512585075"/>
      <mass value="1.0490517458913435"/>
      <inertia ixx="0.006442" ixy="-1.9e-05" ixz="-0.0" iyy="0.00043" iyz="-7.4e-05" izz="0.006454"/>
    </inertial>
    <visual>
      <origin rpy="0 0 0" xyz="-0.001513 0.519279 -0.000399"/>
      <geometry>
        <mesh filename="package://robominer_description/meshes/Component10_1.stl" scale="0.001 0.001 0.001"/>
      </geometry>
      <material name="silver"/>
    </visual>
    <collision>
      <origin rpy="0 0 0" xyz="-0.001513 0.519279 -0.000399"/>
      <geometry>
        <mesh filename="package://robominer_description/meshes/Component10_1.stl" scale="0.001 0.001 0.001"/>
      </geometry>
    </collision>
  </link>
  <link name="Component11_l_1">
    <inertial>
      <origin rpy="0 0 0" xyz="-0.0198056930527322 -0.04596785880612919 -0.016515232602085917"/>
      <mass value="2.634371860361076"/>
      <inertia ixx="0.003233" ixy="-0.0" ixz="0.0" iyy="0.001378" iyz="1.3e-05" izz="0.003593"/>
    </inertial>
    <visual>
      <origin rpy="0 0 0" xyz="-0.021246 0.754979 -0.016997"/>
      <geometry>
        <mesh filename="package://robominer_description/meshes/Component11_1.stl" scale="0.001 0.001 0.001"/>
      </geometry>
      <material name="silver"/>
    </visual>
    <collision>
      <origin rpy="0 0 0" xyz="-0.021246 0.754979 -0.016997"/>
      <geometry>
        <mesh filename="package://robominer_description/meshes/Component11_1.stl" scale="0.001 0.001 0.001"/>
      </geometry>
    </collision>
  </link>
  <link name="Component12_l_1">
    <inertial>
      <origin rpy="0 0 0" xyz="-0.03612166848566285 -0.03816330247780275 -3.670740474915864e-07"/>
      <mass value="0.4300735435640777"/>
      <inertia ixx="0.000136" ixy="0.0" ixz="0.0" iyy="0.000245" iyz="0.0" izz="0.000199"/>
    </inertial>
    <visual>
      <origin rpy="0 0 0" xyz="-0.037428 0.84017 -0.000763"/>
      <geometry>
        <mesh filename="package://robominer_description/meshes/Component12_1.stl" scale="0.001 0.001 0.001"/>
      </geometry>
      <material name="silver"/>
    </visual>
    <collision>
      <origin rpy="0 0 0" xyz="-0.037428 0.84017 -0.000763"/>
      <geometry>
        <mesh filename="package://robominer_description/meshes/Component12_1.stl" scale="0.001 0.001 0.001"/>
      </geometry>
    </collision>
  </link>
  <!--Primera joint: cuerpo-pata-->
  <!--Por algun motivo el plugin nos daba mal la coordenada y de los origenes de esta joint y habido que estimarla a mano-->
  <joint name="Rigid0_l_1" type="fixed">
    <parent link="cuerpo"/>
    <child link="Component1_l_1"/>
    <!--origin rpy="${PI} 0 0" xyz="0.100325 0.11755 0.03"/-->
    <origin rpy="3.141592653589793 0 0" xyz="0.100325 0.151 0.03"/>
  </joint>
  <joint name="Rigid1_l_1" type="fixed">
    <origin rpy="0 3.141592653589793 0" xyz="3.5e-05 -0.013979 0.00041"/>
    <parent link="Component1_l_1"/>
    <child link="Component2_l_1"/>
  </joint>
  <joint name="Rigid2_l_1" type="fixed">
    <origin rpy="0 0 0" xyz="0.011 -0.01 0.016989"/>
    <parent link="Component2_l_1"/>
    <child link="Component3_l_1"/>
  </joint>
  <joint name="Rev3_l_1" type="revolute">
    <origin rpy="0 0 0" xyz="-0.011 -0.0453 0.0065"/>
    <parent link="Component3_l_1"/>
    <child link="Component4_l_1"/>
    <axis xyz="-0.0 -0.0 1.0"/>
    <dynamics damping=".1" friction="1.0"/>
    <limit effort="100" lower="-1.919862" upper="1.919862" velocity="100"/>
  </joint>
  <joint name="Rigid4_l_1" type="fixed">
    <origin rpy="0 0 0" xyz="0.0 -0.036 -0.0235"/>
    <parent link="Component4_l_1"/>
    <child link="Component5_l_1"/>
  </joint>
  <joint name="Rev5_l_1" type="revolute">
    <origin rpy="0 0 0" xyz="0.0235 -0.036 0.0"/>
    <parent link="Component5_l_1"/>
    <child link="Component6_l_1"/>
    <axis xyz="1.0 0.0 -0.0"/>
    <dynamics damping=".1" friction="1.0"/>
    <limit effort="100" lower="-1.919862" upper="1.919862" velocity="100"/>
  </joint>
  <joint name="Rigid6_l_1" type="fixed">
    <origin rpy="0 0 0" xyz="-0.0405 -0.0453 0.011"/>
    <parent link="Component6_l_1"/>
    <child link="Component7_l_1"/>
  </joint>
  <joint name="Rigid7_l_1" type="fixed">
    <origin rpy="0 0 0" xyz="0.033978 -0.2674 0.007"/>
    <parent link="Component7_l_1"/>
    <child link="Component8_l_1"/>
  </joint>
  <joint name="Rev8_l_1" type="revolute">
    <origin rpy="0 0 0" xyz="-0.039 -0.0173 -0.04"/>
    <parent link="Component8_l_1"/>
    <child link="Component9_l_1"/>
    <axis xyz="1.0 0.0 0.0"/>
    <dynamics damping=".1" friction="1.0"/>
    <limit effort="100" lower="-0.785398" upper="3.141593" velocity="100"/>
  </joint>
  <joint name="Rigid9_l_1" type="fixed">
    <origin rpy="0 0 0" xyz="0.0235 -0.048 0.022"/>
    <parent link="Component9_l_1"/>
    <child link="Component10_l_1"/>
  </joint>
  <joint name="Rigid10_l_1" type="fixed">
    <origin rpy="0 0 0" xyz="0.019733 -0.2357 0.016598"/>
    <parent link="Component10_l_1"/>
    <child link="Component11_l_1"/>
  </joint>
  <joint name="Rev11_l_1" type="revolute">
    <origin rpy="0 0 0" xyz="0.016182 -0.085191 -0.016234"/>
    <parent link="Component11_l_1"/>
    <child link="Component12_l_1"/>
    <axis xyz="1.0 -0.0 0.0"/>
    <dynamics damping=".1" friction="1.0"/>
    <limit effort="100" lower="-1.570796" upper="1.570796" velocity="100"/>
  </joint>
  <!--Transmisiones-->
  <transmission name="Rev3_tran_l_1">
    <type>transmission_interface/SimpleTransmission</type>
    <joint name="Rev3_l_1">
      <hardwareInterface>hardware_interface/EffortJointInterface</hardwareInterface>
    </joint>
    <actuator name="Rev3_actr_l_1">
      <hardwareInterface>hardware_interface/EffortJointInterface</hardwareInterface>
      <mechanicalReduction>1</mechanicalReduction>
    </actuator>
  </transmission>
  <transmission name="Rev5_tran_l_1">
    <type>transmission_interface/SimpleTransmission</type>
    <joint name="Rev5_l_1">
      <hardwareInterface>hardware_interface/EffortJointInterface</hardwareInterface>
    </joint>
    <actuator name="Rev5_actr_l_1">
      <hardwareInterface>hardware_interface/EffortJointInterface</hardwareInterface>
      <mechanicalReduction>1</mechanicalReduction>
    </actuator>
  </transmission>
  <transmission name="Rev8_tran_l_1">
    <type>transmission_interface/SimpleTransmission</type>
    <joint name="Rev8_l_1">
      <hardwareInterface>hardware_interface/EffortJointInterface</hardwareInterface>
    </joint>
    <actuator name="Rev8_actr_l_1">
      <hardwareInterface>hardware_interface/EffortJointInterface</hardwareInterface>
      <mechanicalReduction>1</mechanicalReduction>
    </actuator>
  </transmission>
  <transmission name="Rev11_tran_l_1">
    <type>transmission_interface/SimpleTransmission</type>
    <joint name="Rev11_l_1">
      <hardwareInterface>hardware_interface/EffortJointInterface</hardwareInterface>
    </joint>
    <actuator name="Rev11_actr_l_1">
      <hardwareInterface>hardware_interface/EffortJointInterface</hardwareInterface>
      <mechanicalReduction>1</mechanicalReduction>
    </actuator>
  </transmission>
  <!--Sensores-->
  <!-- Enable the Joint Feedback -->
  <gazebo reference="Rev3_l_1">
    <provideFeedback>true</provideFeedback>
  </gazebo>
  <!-- The ft_sensor plugin -->
  <gazebo>
    <plugin filename="libgazebo_ros_ft_sensor.so" name="ft_sensor">
      <robotNamespace>/robominer</robotNamespace>
      <updateRate>100.0</updateRate>
      <topicName>Rev3_l_1_ft_sensor_topic</topicName>
      <jointName>Rev3_l_1</jointName>
    </plugin>
  </gazebo>
  <!-- Enable the Joint Feedback -->
  <gazebo reference="Rev5_l_1">
    <provideFeedback>true</provideFeedback>
  </gazebo>
  <!-- The ft_sensor plugin -->
  <gazebo>
    <plugin filename="libgazebo_ros_ft_sensor.so" name="ft_sensor">
      <robotNamespace>/robominer</robotNamespace>
      <updateRate>100.0</updateRate>
      <topicName>Rev5_l_1_ft_sensor_topic</topicName>
      <jointName>Rev5_l_1</jointName>
    </plugin>
  </gazebo>
  <!-- Enable the Joint Feedback -->
  <gazebo reference="Rev8_l_1">
    <provideFeedback>true</provideFeedback>
  </gazebo>
  <!-- The ft_sensor plugin -->
  <gazebo>
    <plugin filename="libgazebo_ros_ft_sensor.so" name="ft_sensor">
      <robotNamespace>/robominer</robotNamespace>
      <updateRate>100.0</updateRate>
      <topicName>Rev8_l_1_ft_sensor_topic</topicName>
      <jointName>Rev8_l_1</jointName>
    </plugin>
  </gazebo>
  <!-- Enable the Joint Feedback -->
  <gazebo reference="Rev11_l_1">
    <provideFeedback>true</provideFeedback>
  </gazebo>
  <!-- The ft_sensor plugin -->
  <gazebo>
    <plugin filename="libgazebo_ros_ft_sensor.so" name="ft_sensor">
      <robotNamespace>/robominer</robotNamespace>
      <updateRate>100.0</updateRate>
      <topicName>Rev11_l_1_ft_sensor_topic</topicName>
      <jointName>Rev11_l_1</jointName>
    </plugin>
  </gazebo>
  <!--lr: izda o dcha; num: n de pata-->
  <link name="Component1_l_2">
    <inertial>
      <origin rpy="0 0 0" xyz="-0.016098173620451704 0.010194176532741607 0.0004098876929128892"/>
      <mass value="0.6779958201620729"/>
      <inertia ixx="0.000178" ixy="2e-06" ixz="-0.0" iyy="0.000263" iyz="0.0" izz="0.000323"/>
    </inertial>
    <visual>
      <origin rpy="0 0 0" xyz="0 0 0"/>
      <geometry>
        <mesh filename="package://robominer_description/meshes/Component1_1.stl" scale="0.001 0.001 0.001"/>
      </geometry>
      <material name="silver"/>
    </visual>
    <collision>
      <origin rpy="0 0 0" xyz="0 0 0"/>
      <geometry>
        <mesh filename="package://robominer_description/meshes/Component1_1.stl" scale="0.001 0.001 0.001"/>
      </geometry>
    </collision>
  </link>
  <link name="Component2_l_2">
    <inertial>
      <origin rpy="0 0 0" xyz="-0.0006149315356479564 -0.0036869848715110638 3.2154364889409545e-06"/>
      <mass value="0.04057327410573066"/>
      <inertia ixx="6e-06" ixy="-0.0" ixz="-0.0" iyy="8e-06" iyz="0.0" izz="3e-06"/>
    </inertial>
    <visual>
      <origin rpy="0 0 0" xyz="-3.5e-05 0.013979 -0.00041"/>
      <geometry>
        <mesh filename="package://robominer_description/meshes/Component2_1.stl" scale="0.001 0.001 0.001"/>
      </geometry>
      <material name="silver"/>
    </visual>
    <collision>
      <origin rpy="0 0 0" xyz="-3.5e-05 0.013979 -0.00041"/>
      <geometry>
        <mesh filename="package://robominer_description/meshes/Component2_1.stl" scale="0.001 0.001 0.001"/>
      </geometry>
    </collision>
  </link>
  <link name="Component3_l_2">
    <inertial>
      <origin rpy="0 0 0" xyz="-0.010999671935318412 -0.03017554708149813 -0.017082679282096242"/>
      <mass value="0.5890018112407169"/>
      <inertia ixx="0.000248" ixy="-0.0" ixz="0.0" iyy="0.000143" iyz="3e-06" izz="0.000207"/>
    </inertial>
    <visual>
      <origin rpy="0 0 0" xyz="-0.011035 0.023979 -0.017399"/>
      <geometry>
        <mesh filename="package://robominer_description/meshes/Component3_1.stl" scale="0.001 0.001 0.001"/>
      </geometry>
      <material name="silver"/>
    </visual>
    <collision>
      <origin rpy="0 0 0" xyz="-0.011035 0.023979 -0.017399"/>
      <geometry>
        <mesh filename="package://robominer_description/meshes/Component3_1.stl" scale="0.001 0.001 0.001"/>
      </geometry>
    </collision>
  </link>
  <link name="Component4_l_2">
    <inertial>
      <origin rpy="0 0 0" xyz="3.8836028582182376e-07 -0.02564659243541706 -0.023500384459309957"/>
      <mass value="0.05208378573426527"/>
      <inertia ixx="2.7e-05" ixy="-0.0" ixz="-0.0" iyy="2.6e-05" iyz="-0.0" izz="1.3e-05"/>
    </inertial>
    <visual>
      <origin rpy="0 0 0" xyz="-3.5e-05 0.069279 -0.023899"/>
      <geometry>
        <mesh filename="package://robominer_description/meshes/Component4_1.stl" scale="0.001 0.001 0.001"/>
      </geometry>
      <material name="silver"/>
    </visual>
    <collision>
      <origin rpy="0 0 0" xyz="-3.5e-05 0.069279 -0.023899"/>
      <geometry>
        <mesh filename="package://robominer_description/meshes/Component4_1.stl" scale="0.001 0.001 0.001"/>
      </geometry>
    </collision>
  </link>
  <link name="Component5_l_2">
    <inertial>
      <origin rpy="0 0 0" xyz="3.909747923353329e-07 -0.010354176598752526 -3.8552361335936723e-07"/>
      <mass value="0.05208378573425636"/>
      <inertia ixx="1.3e-05" ixy="-0.0" ixz="0.0" iyy="2.6e-05" iyz="0.0" izz="2.7e-05"/>
    </inertial>
    <visual>
      <origin rpy="0 0 0" xyz="-3.5e-05 0.105279 -0.000399"/>
      <geometry>
        <mesh filename="package://robominer_description/meshes/Component5_1.stl" scale="0.001 0.001 0.001"/>
      </geometry>
      <material name="silver"/>
    </visual>
    <collision>
      <origin rpy="0 0 0" xyz="-3.5e-05 0.105279 -0.000399"/>
      <geometry>
        <mesh filename="package://robominer_description/meshes/Component5_1.stl" scale="0.001 0.001 0.001"/>
      </geometry>
    </collision>
  </link>
  <link name="Component6_l_2">
    <inertial>
      <origin rpy="0 0 0" xyz="-0.023581906416495643 -0.015125163189184582 -3.840657600155174e-07"/>
      <mass value="0.5890018112407189"/>
      <inertia ixx="0.000207" ixy="-3e-06" ixz="-0.0" iyy="0.000143" iyz="-0.0" izz="0.000248"/>
    </inertial>
    <visual>
      <origin rpy="0 0 0" xyz="-0.023535 0.141279 -0.000399"/>
      <geometry>
        <mesh filename="package://robominer_description/meshes/Component6_1.stl" scale="0.001 0.001 0.001"/>
      </geometry>
      <material name="silver"/>
    </visual>
    <collision>
      <origin rpy="0 0 0" xyz="-0.023535 0.141279 -0.000399"/>
      <geometry>
        <mesh filename="package://robominer_description/meshes/Component6_1.stl" scale="0.001 0.001 0.001"/>
      </geometry>
    </collision>
  </link>
  <link name="Component7_l_2">
    <inertial>
      <origin rpy="0 0 0" xyz="0.016989115270362485 -0.13370034092163718 -0.009679411634955093"/>
      <mass value="0.8047904243141957"/>
      <inertia ixx="0.010228" ixy="0.0" ixz="-0.0" iyy="0.000455" iyz="0.0" izz="0.010342"/>
    </inertial>
    <visual>
      <origin rpy="0 0 0" xyz="0.016965 0.186579 -0.011399"/>
      <geometry>
        <mesh filename="package://robominer_description/meshes/Component7_1.stl" scale="0.001 0.001 0.001"/>
      </geometry>
      <material name="silver"/>
    </visual>
    <collision>
      <origin rpy="0 0 0" xyz="0.016965 0.186579 -0.011399"/>
      <geometry>
        <mesh filename="package://robominer_description/meshes/Component7_1.stl" scale="0.001 0.001 0.001"/>
      </geometry>
    </collision>
  </link>
  <link name="Component8_l_2">
    <inertial>
      <origin rpy="0 0 0" xyz="-0.01704022511743504 -0.01730038580509191 -0.024875483679934324"/>
      <mass value="0.5890018112407238"/>
      <inertia ixx="0.000207" ixy="-0.0" ixz="3e-06" iyy="0.000248" iyz="-0.0" izz="0.000143"/>
    </inertial>
    <visual>
      <origin rpy="0 0 0" xyz="-0.017013 0.453979 -0.018399"/>
      <geometry>
        <mesh filename="package://robominer_description/meshes/Component8_1.stl" scale="0.001 0.001 0.001"/>
      </geometry>
      <material name="silver"/>
    </visual>
    <collision>
      <origin rpy="0 0 0" xyz="-0.017013 0.453979 -0.018399"/>
      <geometry>
        <mesh filename="package://robominer_description/meshes/Component8_1.stl" scale="0.001 0.001 0.001"/>
      </geometry>
    </collision>
  </link>
  <link name="Component9_l_2">
    <inertial>
      <origin rpy="0 0 0" xyz="0.023499847445577277 -0.030303124512979562 0.018803242373294574"/>
      <mass value="0.07064606392588994"/>
      <inertia ixx="2.9e-05" ixy="0.0" ixz="0.0" iyy="4.1e-05" iyz="5e-06" izz="5.1e-05"/>
    </inertial>
    <visual>
      <origin rpy="0 0 0" xyz="0.021987 0.471279 0.021601"/>
      <geometry>
        <mesh filename="package://robominer_description/meshes/Component9_1.stl" scale="0.001 0.001 0.001"/>
      </geometry>
      <material name="silver"/>
    </visual>
    <collision>
      <origin rpy="0 0 0" xyz="0.021987 0.471279 0.021601"/>
      <geometry>
        <mesh filename="package://robominer_description/meshes/Component9_1.stl" scale="0.001 0.001 0.001"/>
      </geometry>
    </collision>
  </link>
  <link name="Component10_l_2">
    <inertial>
      <origin rpy="0 0 0" xyz="-0.0001462881510200071 -0.07565896477109058 0.0034500995512585075"/>
      <mass value="1.0490517458913435"/>
      <inertia ixx="0.006442" ixy="-1.9e-05" ixz="-0.0" iyy="0.00043" iyz="-7.4e-05" izz="0.006454"/>
    </inertial>
    <visual>
      <origin rpy="0 0 0" xyz="-0.001513 0.519279 -0.000399"/>
      <geometry>
        <mesh filename="package://robominer_description/meshes/Component10_1.stl" scale="0.001 0.001 0.001"/>
      </geometry>
      <material name="silver"/>
    </visual>
    <collision>
      <origin rpy="0 0 0" xyz="-0.001513 0.519279 -0.000399"/>
      <geometry>
        <mesh filename="package://robominer_description/meshes/Component10_1.stl" scale="0.001 0.001 0.001"/>
      </geometry>
    </collision>
  </link>
  <link name="Component11_l_2">
    <inertial>
      <origin rpy="0 0 0" xyz="-0.0198056930527322 -0.04596785880612919 -0.016515232602085917"/>
      <mass value="2.634371860361076"/>
      <inertia ixx="0.003233" ixy="-0.0" ixz="0.0" iyy="0.001378" iyz="1.3e-05" izz="0.003593"/>
    </inertial>
    <visual>
      <origin rpy="0 0 0" xyz="-0.021246 0.754979 -0.016997"/>
      <geometry>
        <mesh filename="package://robominer_description/meshes/Component11_1.stl" scale="0.001 0.001 0.001"/>
      </geometry>
      <material name="silver"/>
    </visual>
    <collision>
      <origin rpy="0 0 0" xyz="-0.021246 0.754979 -0.016997"/>
      <geometry>
        <mesh filename="package://robominer_description/meshes/Component11_1.stl" scale="0.001 0.001 0.001"/>
      </geometry>
    </collision>
  </link>
  <link name="Component12_l_2">
    <inertial>
      <origin rpy="0 0 0" xyz="-0.03612166848566285 -0.03816330247780275 -3.670740474915864e-07"/>
      <mass value="0.4300735435640777"/>
      <inertia ixx="0.000136" ixy="0.0" ixz="0.0" iyy="0.000245" iyz="0.0" izz="0.000199"/>
    </inertial>
    <visual>
      <origin rpy="0 0 0" xyz="-0.037428 0.84017 -0.000763"/>
      <geometry>
        <mesh filename="package://robominer_description/meshes/Component12_1.stl" scale="0.001 0.001 0.001"/>
      </geometry>
      <material name="silver"/>
    </visual>
    <collision>
      <origin rpy="0 0 0" xyz="-0.037428 0.84017 -0.000763"/>
      <geometry>
        <mesh filename="package://robominer_description/meshes/Component12_1.stl" scale="0.001 0.001 0.001"/>
      </geometry>
    </collision>
  </link>
  <!--Primera joint: cuerpo-pata-->
  <!--Por algun motivo el plugin nos daba mal la coordenada y de los origenes de esta joint y habido que estimarla a mano-->
  <joint name="Rigid0_l_2" type="fixed">
    <parent link="cuerpo"/>
    <child link="Component1_l_2"/>
    <!--origin rpy="${PI} 0 0" xyz="0.015325 0.11755 0.03"/-->
    <origin rpy="3.141592653589793 0 0" xyz="0.015325 0.151 0.03"/>
  </joint>
  <joint name="Rigid1_l_2" type="fixed">
    <origin rpy="0 3.141592653589793 0" xyz="3.5e-05 -0.013979 0.00041"/>
    <parent link="Component1_l_2"/>
    <child link="Component2_l_2"/>
  </joint>
  <joint name="Rigid2_l_2" type="fixed">
    <origin rpy="0 0 0" xyz="0.011 -0.01 0.016989"/>
    <parent link="Component2_l_2"/>
    <child link="Component3_l_2"/>
  </joint>
  <joint name="Rev3_l_2" type="revolute">
    <origin rpy="0 0 0" xyz="-0.011 -0.0453 0.0065"/>
    <parent link="Component3_l_2"/>
    <child link="Component4_l_2"/>
    <axis xyz="-0.0 -0.0 1.0"/>
    <dynamics damping=".1" friction="1.0"/>
    <limit effort="100" lower="-1.919862" upper="1.919862" velocity="100"/>
  </joint>
  <joint name="Rigid4_l_2" type="fixed">
    <origin rpy="0 0 0" xyz="0.0 -0.036 -0.0235"/>
    <parent link="Component4_l_2"/>
    <child link="Component5_l_2"/>
  </joint>
  <joint name="Rev5_l_2" type="revolute">
    <origin rpy="0 0 0" xyz="0.0235 -0.036 0.0"/>
    <parent link="Component5_l_2"/>
    <child link="Component6_l_2"/>
    <axis xyz="1.0 0.0 -0.0"/>
    <dynamics damping=".1" friction="1.0"/>
    <limit effort="100" lower="-1.919862" upper="1.919862" velocity="100"/>
  </joint>
  <joint name="Rigid6_l_2" type="fixed">
    <origin rpy="0 0 0" xyz="-0.0405 -0.0453 0.011"/>
    <parent link="Component6_l_2"/>
    <child link="Component7_l_2"/>
  </joint>
  <joint name="Rigid7_l_2" type="fixed">
    <origin rpy="0 0 0" xyz="0.033978 -0.2674 0.007"/>
    <parent link="Component7_l_2"/>
    <child link="Component8_l_2"/>
  </joint>
  <joint name="Rev8_l_2" type="revolute">
    <origin rpy="0 0 0" xyz="-0.039 -0.0173 -0.04"/>
    <parent link="Component8_l_2"/>
    <child link="Component9_l_2"/>
    <axis xyz="1.0 0.0 0.0"/>
    <dynamics damping=".1" friction="1.0"/>
    <limit effort="100" lower="-0.785398" upper="3.141593" velocity="100"/>
  </joint>
  <joint name="Rigid9_l_2" type="fixed">
    <origin rpy="0 0 0" xyz="0.0235 -0.048 0.022"/>
    <parent link="Component9_l_2"/>
    <child link="Component10_l_2"/>
  </joint>
  <joint name="Rigid10_l_2" type="fixed">
    <origin rpy="0 0 0" xyz="0.019733 -0.2357 0.016598"/>
    <parent link="Component10_l_2"/>
    <child link="Component11_l_2"/>
  </joint>
  <joint name="Rev11_l_2" type="revolute">
    <origin rpy="0 0 0" xyz="0.016182 -0.085191 -0.016234"/>
    <parent link="Component11_l_2"/>
    <child link="Component12_l_2"/>
    <axis xyz="1.0 -0.0 0.0"/>
    <dynamics damping=".1" friction="1.0"/>
    <limit effort="100" lower="-1.570796" upper="1.570796" velocity="100"/>
  </joint>
  <!--Transmisiones-->
  <transmission name="Rev3_tran_l_2">
    <type>transmission_interface/SimpleTransmission</type>
    <joint name="Rev3_l_2">
      <hardwareInterface>hardware_interface/EffortJointInterface</hardwareInterface>
    </joint>
    <actuator name="Rev3_actr_l_2">
      <hardwareInterface>hardware_interface/EffortJointInterface</hardwareInterface>
      <mechanicalReduction>1</mechanicalReduction>
    </actuator>
  </transmission>
  <transmission name="Rev5_tran_l_2">
    <type>transmission_interface/SimpleTransmission</type>
    <joint name="Rev5_l_2">
      <hardwareInterface>hardware_interface/EffortJointInterface</hardwareInterface>
    </joint>
    <actuator name="Rev5_actr_l_2">
      <hardwareInterface>hardware_interface/EffortJointInterface</hardwareInterface>
      <mechanicalReduction>1</mechanicalReduction>
    </actuator>
  </transmission>
  <transmission name="Rev8_tran_l_2">
    <type>transmission_interface/SimpleTransmission</type>
    <joint name="Rev8_l_2">
      <hardwareInterface>hardware_interface/EffortJointInterface</hardwareInterface>
    </joint>
    <actuator name="Rev8_actr_l_2">
      <hardwareInterface>hardware_interface/EffortJointInterface</hardwareInterface>
      <mechanicalReduction>1</mechanicalReduction>
    </actuator>
  </transmission>
  <transmission name="Rev11_tran_l_2">
    <type>transmission_interface/SimpleTransmission</type>
    <joint name="Rev11_l_2">
      <hardwareInterface>hardware_interface/EffortJointInterface</hardwareInterface>
    </joint>
    <actuator name="Rev11_actr_l_2">
      <hardwareInterface>hardware_interface/EffortJointInterface</hardwareInterface>
      <mechanicalReduction>1</mechanicalReduction>
    </actuator>
  </transmission>
  <!--Sensores-->
  <!-- Enable the Joint Feedback -->
  <gazebo reference="Rev3_l_2">
    <provideFeedback>true</provideFeedback>
  </gazebo>
  <!-- The ft_sensor plugin -->
  <gazebo>
    <plugin filename="libgazebo_ros_ft_sensor.so" name="ft_sensor">
      <robotNamespace>/robominer</robotNamespace>
      <updateRate>100.0</updateRate>
      <topicName>Rev3_l_2_ft_sensor_topic</topicName>
      <jointName>Rev3_l_2</jointName>
    </plugin>
  </gazebo>
  <!-- Enable the Joint Feedback -->
  <gazebo reference="Rev5_l_2">
    <provideFeedback>true</provideFeedback>
  </gazebo>
  <!-- The ft_sensor plugin -->
  <gazebo>
    <plugin filename="libgazebo_ros_ft_sensor.so" name="ft_sensor">
      <robotNamespace>/robominer</robotNamespace>
      <updateRate>100.0</updateRate>
      <topicName>Rev5_l_2_ft_sensor_topic</topicName>
      <jointName>Rev5_l_2</jointName>
    </plugin>
  </gazebo>
  <!-- Enable the Joint Feedback -->
  <gazebo reference="Rev8_l_2">
    <provideFeedback>true</provideFeedback>
  </gazebo>
  <!-- The ft_sensor plugin -->
  <gazebo>
    <plugin filename="libgazebo_ros_ft_sensor.so" name="ft_sensor">
      <robotNamespace>/robominer</robotNamespace>
      <updateRate>100.0</updateRate>
      <topicName>Rev8_l_2_ft_sensor_topic</topicName>
      <jointName>Rev8_l_2</jointName>
    </plugin>
  </gazebo>
  <!-- Enable the Joint Feedback -->
  <gazebo reference="Rev11_l_2">
    <provideFeedback>true</provideFeedback>
  </gazebo>
  <!-- The ft_sensor plugin -->
  <gazebo>
    <plugin filename="libgazebo_ros_ft_sensor.so" name="ft_sensor">
      <robotNamespace>/robominer</robotNamespace>
      <updateRate>100.0</updateRate>
      <topicName>Rev11_l_2_ft_sensor_topic</topicName>
      <jointName>Rev11_l_2</jointName>
    </plugin>
  </gazebo>
  <!--lr: izda o dcha; num: n de pata-->
  <link name="Component1_l_3">
    <inertial>
      <origin rpy="0 0 0" xyz="-0.016098173620451704 0.010194176532741607 0.0004098876929128892"/>
      <mass value="0.6779958201620729"/>
      <inertia ixx="0.000178" ixy="2e-06" ixz="-0.0" iyy="0.000263" iyz="0.0" izz="0.000323"/>
    </inertial>
    <visual>
      <origin rpy="0 0 0" xyz="0 0 0"/>
      <geometry>
        <mesh filename="package://robominer_description/meshes/Component1_1.stl" scale="0.001 0.001 0.001"/>
      </geometry>
      <material name="silver"/>
    </visual>
    <collision>
      <origin rpy="0 0 0" xyz="0 0 0"/>
      <geometry>
        <mesh filename="package://robominer_description/meshes/Component1_1.stl" scale="0.001 0.001 0.001"/>
      </geometry>
    </collision>
  </link>
  <link name="Component2_l_3">
    <inertial>
      <origin rpy="0 0 0" xyz="-0.0006149315356479564 -0.0036869848715110638 3.2154364889409545e-06"/>
      <mass value="0.04057327410573066"/>
      <inertia ixx="6e-06" ixy="-0.0" ixz="-0.0" iyy="8e-06" iyz="0.0" izz="3e-06"/>
    </inertial>
    <visual>
      <origin rpy="0 0 0" xyz="-3.5e-05 0.013979 -0.00041"/>
      <geometry>
        <mesh filename="package://robominer_description/meshes/Component2_1.stl" scale="0.001 0.001 0.001"/>
      </geometry>
      <material name="silver"/>
    </visual>
    <collision>
      <origin rpy="0 0 0" xyz="-3.5e-05 0.013979 -0.00041"/>
      <geometry>
        <mesh filename="package://robominer_description/meshes/Component2_1.stl" scale="0.001 0.001 0.001"/>
      </geometry>
    </collision>
  </link>
  <link name="Component3_l_3">
    <inertial>
      <origin rpy="0 0 0" xyz="-0.010999671935318412 -0.03017554708149813 -0.017082679282096242"/>
      <mass value="0.5890018112407169"/>
      <inertia ixx="0.000248" ixy="-0.0" ixz="0.0" iyy="0.000143" iyz="3e-06" izz="0.000207"/>
    </inertial>
    <visual>
      <origin rpy="0 0 0" xyz="-0.011035 0.023979 -0.017399"/>
      <geometry>
        <mesh filename="package://robominer_description/meshes/Component3_1.stl" scale="0.001 0.001 0.001"/>
      </geometry>
      <material name="silver"/>
    </visual>
    <collision>
      <origin rpy="0 0 0" xyz="-0.011035 0.023979 -0.017399"/>
      <geometry>
        <mesh filename="package://robominer_description/meshes/Component3_1.stl" scale="0.001 0.001 0.001"/>
      </geometry>
    </collision>
  </link>
  <link name="Component4_l_3">
    <inertial>
      <origin rpy="0 0 0" xyz="3.8836028582182376e-07 -0.02564659243541706 -0.023500384459309957"/>
      <mass value="0.05208378573426527"/>
      <inertia ixx="2.7e-05" ixy="-0.0" ixz="-0.0" iyy="2.6e-05" iyz="-0.0" izz="1.3e-05"/>
    </inertial>
    <visual>
      <origin rpy="0 0 0" xyz="-3.5e-05 0.069279 -0.023899"/>
      <geometry>
        <mesh filename="package://robominer_description/meshes/Component4_1.stl" scale="0.001 0.001 0.001"/>
      </geometry>
      <material name="silver"/>
    </visual>
    <collision>
      <origin rpy="0 0 0" xyz="-3.5e-05 0.069279 -0.023899"/>
      <geometry>
        <mesh filename="package://robominer_description/meshes/Component4_1.stl" scale="0.001 0.001 0.001"/>
      </geometry>
    </collision>
  </link>
  <link name="Component5_l_3">
    <inertial>
      <origin rpy="0 0 0" xyz="3.909747923353329e-07 -0.010354176598752526 -3.8552361335936723e-07"/>
      <mass value="0.05208378573425636"/>
      <inertia ixx="1.3e-05" ixy="-0.0" ixz="0.0" iyy="2.6e-05" iyz="0.0" izz="2.7e-05"/>
    </inertial>
    <visual>
      <origin rpy="0 0 0" xyz="-3.5e-05 0.105279 -0.000399"/>
      <geometry>
        <mesh filename="package://robominer_description/meshes/Component5_1.stl" scale="0.001 0.001 0.001"/>
      </geometry>
      <material name="silver"/>
    </visual>
    <collision>
      <origin rpy="0 0 0" xyz="-3.5e-05 0.105279 -0.000399"/>
      <geometry>
        <mesh filename="package://robominer_description/meshes/Component5_1.stl" scale="0.001 0.001 0.001"/>
      </geometry>
    </collision>
  </link>
  <link name="Component6_l_3">
    <inertial>
      <origin rpy="0 0 0" xyz="-0.023581906416495643 -0.015125163189184582 -3.840657600155174e-07"/>
      <mass value="0.5890018112407189"/>
      <inertia ixx="0.000207" ixy="-3e-06" ixz="-0.0" iyy="0.000143" iyz="-0.0" izz="0.000248"/>
    </inertial>
    <visual>
      <origin rpy="0 0 0" xyz="-0.023535 0.141279 -0.000399"/>
      <geometry>
        <mesh filename="package://robominer_description/meshes/Component6_1.stl" scale="0.001 0.001 0.001"/>
      </geometry>
      <material name="silver"/>
    </visual>
    <collision>
      <origin rpy="0 0 0" xyz="-0.023535 0.141279 -0.000399"/>
      <geometry>
        <mesh filename="package://robominer_description/meshes/Component6_1.stl" scale="0.001 0.001 0.001"/>
      </geometry>
    </collision>
  </link>
  <link name="Component7_l_3">
    <inertial>
      <origin rpy="0 0 0" xyz="0.016989115270362485 -0.13370034092163718 -0.009679411634955093"/>
      <mass value="0.8047904243141957"/>
      <inertia ixx="0.010228" ixy="0.0" ixz="-0.0" iyy="0.000455" iyz="0.0" izz="0.010342"/>
    </inertial>
    <visual>
      <origin rpy="0 0 0" xyz="0.016965 0.186579 -0.011399"/>
      <geometry>
        <mesh filename="package://robominer_description/meshes/Component7_1.stl" scale="0.001 0.001 0.001"/>
      </geometry>
      <material name="silver"/>
    </visual>
    <collision>
      <origin rpy="0 0 0" xyz="0.016965 0.186579 -0.011399"/>
      <geometry>
        <mesh filename="package://robominer_description/meshes/Component7_1.stl" scale="0.001 0.001 0.001"/>
      </geometry>
    </collision>
  </link>
  <link name="Component8_l_3">
    <inertial>
      <origin rpy="0 0 0" xyz="-0.01704022511743504 -0.01730038580509191 -0.024875483679934324"/>
      <mass value="0.5890018112407238"/>
      <inertia ixx="0.000207" ixy="-0.0" ixz="3e-06" iyy="0.000248" iyz="-0.0" izz="0.000143"/>
    </inertial>
    <visual>
      <origin rpy="0 0 0" xyz="-0.017013 0.453979 -0.018399"/>
      <geometry>
        <mesh filename="package://robominer_description/meshes/Component8_1.stl" scale="0.001 0.001 0.001"/>
      </geometry>
      <material name="silver"/>
    </visual>
    <collision>
      <origin rpy="0 0 0" xyz="-0.017013 0.453979 -0.018399"/>
      <geometry>
        <mesh filename="package://robominer_description/meshes/Component8_1.stl" scale="0.001 0.001 0.001"/>
      </geometry>
    </collision>
  </link>
  <link name="Component9_l_3">
    <inertial>
      <origin rpy="0 0 0" xyz="0.023499847445577277 -0.030303124512979562 0.018803242373294574"/>
      <mass value="0.07064606392588994"/>
      <inertia ixx="2.9e-05" ixy="0.0" ixz="0.0" iyy="4.1e-05" iyz="5e-06" izz="5.1e-05"/>
    </inertial>
    <visual>
      <origin rpy="0 0 0" xyz="0.021987 0.471279 0.021601"/>
      <geometry>
        <mesh filename="package://robominer_description/meshes/Component9_1.stl" scale="0.001 0.001 0.001"/>
      </geometry>
      <material name="silver"/>
    </visual>
    <collision>
      <origin rpy="0 0 0" xyz="0.021987 0.471279 0.021601"/>
      <geometry>
        <mesh filename="package://robominer_description/meshes/Component9_1.stl" scale="0.001 0.001 0.001"/>
      </geometry>
    </collision>
  </link>
  <link name="Component10_l_3">
    <inertial>
      <origin rpy="0 0 0" xyz="-0.0001462881510200071 -0.07565896477109058 0.0034500995512585075"/>
      <mass value="1.0490517458913435"/>
      <inertia ixx="0.006442" ixy="-1.9e-05" ixz="-0.0" iyy="0.00043" iyz="-7.4e-05" izz="0.006454"/>
    </inertial>
    <visual>
      <origin rpy="0 0 0" xyz="-0.001513 0.519279 -0.000399"/>
      <geometry>
        <mesh filename="package://robominer_description/meshes/Component10_1.stl" scale="0.001 0.001 0.001"/>
      </geometry>
      <material name="silver"/>
    </visual>
    <collision>
      <origin rpy="0 0 0" xyz="-0.001513 0.519279 -0.000399"/>
      <geometry>
        <mesh filename="package://robominer_description/meshes/Component10_1.stl" scale="0.001 0.001 0.001"/>
      </geometry>
    </collision>
  </link>
  <link name="Component11_l_3">
    <inertial>
      <origin rpy="0 0 0" xyz="-0.0198056930527322 -0.04596785880612919 -0.016515232602085917"/>
      <mass value="2.634371860361076"/>
      <inertia ixx="0.003233" ixy="-0.0" ixz="0.0" iyy="0.001378" iyz="1.3e-05" izz="0.003593"/>
    </inertial>
    <visual>
      <origin rpy="0 0 0" xyz="-0.021246 0.754979 -0.016997"/>
      <geometry>
        <mesh filename="package://robominer_description/meshes/Component11_1.stl" scale="0.001 0.001 0.001"/>
      </geometry>
      <material name="silver"/>
    </visual>
    <collision>
      <origin rpy="0 0 0" xyz="-0.021246 0.754979 -0.016997"/>
      <geometry>
        <mesh filename="package://robominer_description/meshes/Component11_1.stl" scale="0.001 0.001 0.001"/>
      </geometry>
    </collision>
  </link>
  <link name="Component12_l_3">
    <inertial>
      <origin rpy="0 0 0" xyz="-0.03612166848566285 -0.03816330247780275 -3.670740474915864e-07"/>
      <mass value="0.4300735435640777"/>
      <inertia ixx="0.000136" ixy="0.0" ixz="0.0" iyy="0.000245" iyz="0.0" izz="0.000199"/>
    </inertial>
    <visual>
      <origin rpy="0 0 0" xyz="-0.037428 0.84017 -0.000763"/>
      <geometry>
        <mesh filename="package://robominer_description/meshes/Component12_1.stl" scale="0.001 0.001 0.001"/>
      </geometry>
      <material name="silver"/>
    </visual>
    <collision>
      <origin rpy="0 0 0" xyz="-0.037428 0.84017 -0.000763"/>
      <geometry>
        <mesh filename="package://robominer_description/meshes/Component12_1.stl" scale="0.001 0.001 0.001"/>
      </geometry>
    </collision>
  </link>
  <!--Primera joint: cuerpo-pata-->
  <!--Por algun motivo el plugin nos daba mal la coordenada y de los origenes de esta joint y habido que estimarla a mano-->
  <joint name="Rigid0_l_3" type="fixed">
    <parent link="cuerpo"/>
    <child link="Component1_l_3"/>
    <!--origin rpy="${PI} 0 0" xyz="-0.069675 0.11755 0.03"/-->
    <origin rpy="3.141592653589793 0 0" xyz="-0.069675 0.151 0.03"/>
  </joint>
  <joint name="Rigid1_l_3" type="fixed">
    <origin rpy="0 3.141592653589793 0" xyz="3.5e-05 -0.013979 0.00041"/>
    <parent link="Component1_l_3"/>
    <child link="Component2_l_3"/>
  </joint>
  <joint name="Rigid2_l_3" type="fixed">
    <origin rpy="0 0 0" xyz="0.011 -0.01 0.016989"/>
    <parent link="Component2_l_3"/>
    <child link="Component3_l_3"/>
  </joint>
  <joint name="Rev3_l_3" type="revolute">
    <origin rpy="0 0 0" xyz="-0.011 -0.0453 0.0065"/>
    <parent link="Component3_l_3"/>
    <child link="Component4_l_3"/>
    <axis xyz="-0.0 -0.0 1.0"/>
    <dynamics damping=".1" friction="1.0"/>
    <limit effort="100" lower="-1.919862" upper="1.919862" velocity="100"/>
  </joint>
  <joint name="Rigid4_l_3" type="fixed">
    <origin rpy="0 0 0" xyz="0.0 -0.036 -0.0235"/>
    <parent link="Component4_l_3"/>
    <child link="Component5_l_3"/>
  </joint>
  <joint name="Rev5_l_3" type="revolute">
    <origin rpy="0 0 0" xyz="0.0235 -0.036 0.0"/>
    <parent link="Component5_l_3"/>
    <child link="Component6_l_3"/>
    <axis xyz="1.0 0.0 -0.0"/>
    <dynamics damping=".1" friction="1.0"/>
    <limit effort="100" lower="-1.919862" upper="1.919862" velocity="100"/>
  </joint>
  <joint name="Rigid6_l_3" type="fixed">
    <origin rpy="0 0 0" xyz="-0.0405 -0.0453 0.011"/>
    <parent link="Component6_l_3"/>
    <child link="Component7_l_3"/>
  </joint>
  <joint name="Rigid7_l_3" type="fixed">
    <origin rpy="0 0 0" xyz="0.033978 -0.2674 0.007"/>
    <parent link="Component7_l_3"/>
    <child link="Component8_l_3"/>
  </joint>
  <joint name="Rev8_l_3" type="revolute">
    <origin rpy="0 0 0" xyz="-0.039 -0.0173 -0.04"/>
    <parent link="Component8_l_3"/>
    <child link="Component9_l_3"/>
    <axis xyz="1.0 0.0 0.0"/>
    <dynamics damping=".1" friction="1.0"/>
    <limit effort="100" lower="-0.785398" upper="3.141593" velocity="100"/>
  </joint>
  <joint name="Rigid9_l_3" type="fixed">
    <origin rpy="0 0 0" xyz="0.0235 -0.048 0.022"/>
    <parent link="Component9_l_3"/>
    <child link="Component10_l_3"/>
  </joint>
  <joint name="Rigid10_l_3" type="fixed">
    <origin rpy="0 0 0" xyz="0.019733 -0.2357 0.016598"/>
    <parent link="Component10_l_3"/>
    <child link="Component11_l_3"/>
  </joint>
  <joint name="Rev11_l_3" type="revolute">
    <origin rpy="0 0 0" xyz="0.016182 -0.085191 -0.016234"/>
    <parent link="Component11_l_3"/>
    <child link="Component12_l_3"/>
    <axis xyz="1.0 -0.0 0.0"/>
    <dynamics damping=".1" friction="1.0"/>
    <limit effort="100" lower="-1.570796" upper="1.570796" velocity="100"/>
  </joint>
  <!--Transmisiones-->
  <transmission name="Rev3_tran_l_3">
    <type>transmission_interface/SimpleTransmission</type>
    <joint name="Rev3_l_3">
      <hardwareInterface>hardware_interface/EffortJointInterface</hardwareInterface>
    </joint>
    <actuator name="Rev3_actr_l_3">
      <hardwareInterface>hardware_interface/EffortJointInterface</hardwareInterface>
      <mechanicalReduction>1</mechanicalReduction>
    </actuator>
  </transmission>
  <transmission name="Rev5_tran_l_3">
    <type>transmission_interface/SimpleTransmission</type>
    <joint name="Rev5_l_3">
      <hardwareInterface>hardware_interface/EffortJointInterface</hardwareInterface>
    </joint>
    <actuator name="Rev5_actr_l_3">
      <hardwareInterface>hardware_interface/EffortJointInterface</hardwareInterface>
      <mechanicalReduction>1</mechanicalReduction>
    </actuator>
  </transmission>
  <transmission name="Rev8_tran_l_3">
    <type>transmission_interface/SimpleTransmission</type>
    <joint name="Rev8_l_3">
      <hardwareInterface>hardware_interface/EffortJointInterface</hardwareInterface>
    </joint>
    <actuator name="Rev8_actr_l_3">
      <hardwareInterface>hardware_interface/EffortJointInterface</hardwareInterface>
      <mechanicalReduction>1</mechanicalReduction>
    </actuator>
  </transmission>
  <transmission name="Rev11_tran_l_3">
    <type>transmission_interface/SimpleTransmission</type>
    <joint name="Rev11_l_3">
      <hardwareInterface>hardware_interface/EffortJointInterface</hardwareInterface>
    </joint>
    <actuator name="Rev11_actr_l_3">
      <hardwareInterface>hardware_interface/EffortJointInterface</hardwareInterface>
      <mechanicalReduction>1</mechanicalReduction>
    </actuator>
  </transmission>
  <!--Sensores-->
  <!-- Enable the Joint Feedback -->
  <gazebo reference="Rev3_l_3">
    <provideFeedback>true</provideFeedback>
  </gazebo>
  <!-- The ft_sensor plugin -->
  <gazebo>
    <plugin filename="libgazebo_ros_ft_sensor.so" name="ft_sensor">
      <robotNamespace>/robominer</robotNamespace>
      <updateRate>100.0</updateRate>
      <topicName>Rev3_l_3_ft_sensor_topic</topicName>
      <jointName>Rev3_l_3</jointName>
    </plugin>
  </gazebo>
  <!-- Enable the Joint Feedback -->
  <gazebo reference="Rev5_l_3">
    <provideFeedback>true</provideFeedback>
  </gazebo>
  <!-- The ft_sensor plugin -->
  <gazebo>
    <plugin filename="libgazebo_ros_ft_sensor.so" name="ft_sensor">
      <robotNamespace>/robominer</robotNamespace>
      <updateRate>100.0</updateRate>
      <topicName>Rev5_l_3_ft_sensor_topic</topicName>
      <jointName>Rev5_l_3</jointName>
    </plugin>
  </gazebo>
  <!-- Enable the Joint Feedback -->
  <gazebo reference="Rev8_l_3">
    <provideFeedback>true</provideFeedback>
  </gazebo>
  <!-- The ft_sensor plugin -->
  <gazebo>
    <plugin filename="libgazebo_ros_ft_sensor.so" name="ft_sensor">
      <robotNamespace>/robominer</robotNamespace>
      <updateRate>100.0</updateRate>
      <topicName>Rev8_l_3_ft_sensor_topic</topicName>
      <jointName>Rev8_l_3</jointName>
    </plugin>
  </gazebo>
  <!-- Enable the Joint Feedback -->
  <gazebo reference="Rev11_l_3">
    <provideFeedback>true</provideFeedback>
  </gazebo>
  <!-- The ft_sensor plugin -->
  <gazebo>
    <plugin filename="libgazebo_ros_ft_sensor.so" name="ft_sensor">
      <robotNamespace>/robominer</robotNamespace>
      <updateRate>100.0</updateRate>
      <topicName>Rev11_l_3_ft_sensor_topic</topicName>
      <jointName>Rev11_l_3</jointName>
    </plugin>
  </gazebo>
</robot>
